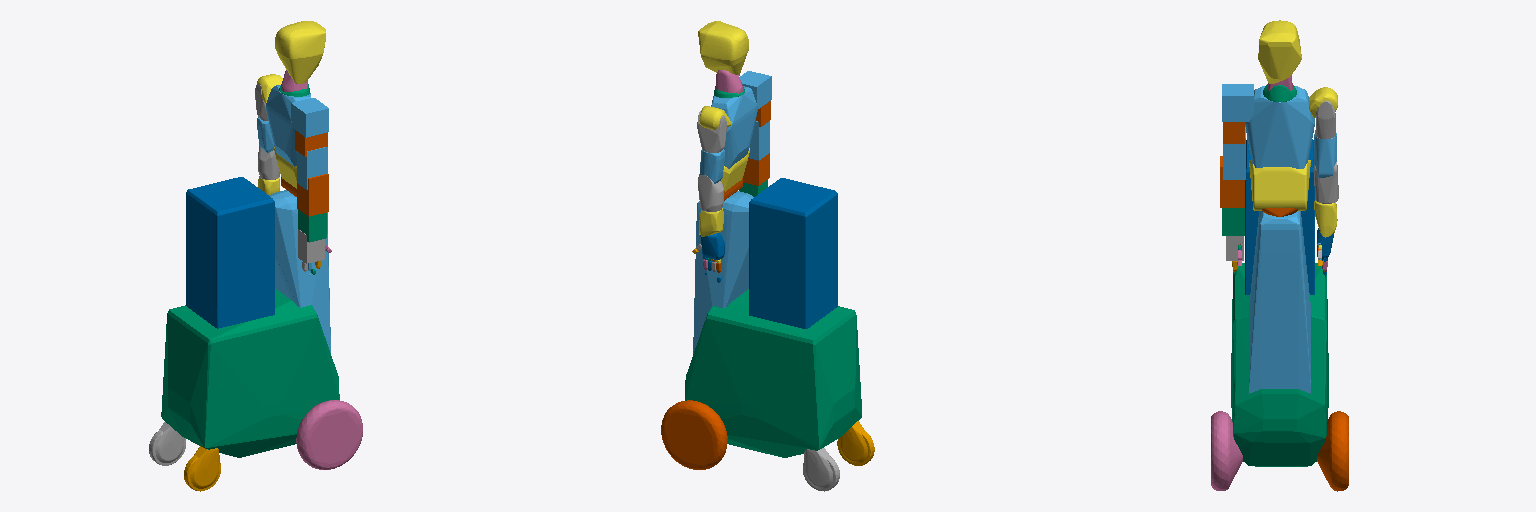
--- What the picture shows (computed from the rendered views, not written in the file) ---
The picture shows the robot from 3 angles, left to right: view 1: azimuth 30°, elevation 25°; view 2: azimuth 150°, elevation 25°; view 3: azimuth 270°, elevation 25°; orthographic projection.
Model LSA with 146 links and 145 joints (49 revolute, 45 continuous, 51 fixed), rooted at world, posed every joint at zero.
Links seen in each view (by area): view 1: column_link, hydraulic_container_link, root_link, right_wheel_link, neck_pitch_link, torso_pitch_upper_link, right_shoulder_fe_link, right_elbow_fe_link, right_caster_swivel_link, right_shoulder_ie_link, left_caster_swivel_link, right_wrist_rotation_link (+3 smaller); view 2: column_link, hydraulic_container_link, root_link, left_wheel_link, neck_pitch_link, torso_pitch_upper_link, left_caster_swivel_link, right_caster_swivel_link, left_elbow_fe_link, right_shoulder_fe_link, left_shoulder_aa_link, left_shoulder_ie_link (+4 smaller); view 3: column_link, root_link, torso_pitch_upper_link, torso_pitch_lower_link, hydraulic_container_link, neck_pitch_link, right_wheel_link, left_wheel_link, right_shoulder_fe_link, right_shoulder_ie_link, left_shoulder_ie_link, right_elbow_fe_link (+4 smaller).
Link boxes in pixels (x1,y1,x2,y2): column_link: (161,288,339,457); hydraulic_container_link: (186,177,274,328); root_link: (270,190,330,352); right_wheel_link: (296,400,362,469); neck_pitch_link: (275,21,325,83); torso_pitch_upper_link: (266,85,310,166); right_shoulder_fe_link: (291,98,328,137); right_elbow_fe_link: (297,174,328,216); right_caster_swivel_link: (190,446,219,488); right_shoulder_ie_link: (297,147,327,189); left_caster_swivel_link: (155,422,184,462); right_wrist_rotation_link: (298,209,326,242); column_link: (685,289,861,457); hydraulic_container_link: (749,178,837,328); root_link: (693,191,753,353); left_wheel_link: (661,400,727,469); neck_pitch_link: (698,21,748,75); torso_pitch_upper_link: (711,86,757,168); left_caster_swivel_link: (804,448,832,488); right_caster_swivel_link: (839,421,867,462); left_elbow_fe_link: (698,175,723,211); right_shoulder_fe_link: (740,71,771,108); left_shoulder_aa_link: (697,110,726,152); left_shoulder_ie_link: (699,149,724,183); column_link: (1231,263,1328,466); root_link: (1249,211,1310,393); torso_pitch_upper_link: (1245,86,1314,168); torso_pitch_lower_link: (1249,160,1310,210); hydraulic_container_link: (1245,139,1314,294); neck_pitch_link: (1258,20,1301,83); right_wheel_link: (1211,411,1242,490); left_wheel_link: (1317,411,1348,491); right_shoulder_fe_link: (1222,84,1253,121); right_shoulder_ie_link: (1223,127,1245,179); left_shoulder_ie_link: (1314,133,1336,177); right_elbow_fe_link: (1220,156,1244,207).
Size in the robot's own frame: 0.7304 by 0.4839 by 1.77 metres.
59 mesh visuals loaded from 97 distinct referenced files (59 OBJ); not drawn: 38 (reference not matched to a file when rendering).

robot.urdf — LSA:
<!--
	File autogenerated from OnShape exporter.
	Timestamp: 2022-06-20-14:55:21
	Exporter Git Commit Hash: a278511934049e6f8f56b7acad89d937a79011d1
	OnShape Microversion ID: 65d6e7af157a21df5c5a79c3
	robots/lsa_1.1_full/config.yml:
	{
		documentId: 0fd9bb9a29bd34da8f37550f
		workspaceId: 00709c39a3c048f1bddaec31
		assemblyName: LSA V1.1
		robotName: LSA
		jointLimits: joint_limits.yml
		massProps: mass_props.yml
		configuration: 		{
			Configuration: Neutral
			Passive Markers: False
			Apriltags: False
		}
		decimate: True
		generateCollisionHullURDF: True
	}
-->
<!--
	File updated by OnShape exporter script: scripts/process_joint_limits.py
	Timestamp: 2022-06-20-15:14:27
	Config File: robots/lsa_1.1_full/joint_limits.yml
	Script Commit Hash: a278511934049e6f8f56b7acad89d937a79011d1
-->
<!--
	File updated by OnShape exporter script: scripts/process_mass_properties.py
	Timestamp: 2022-06-20-15:14:27
	Config File: robots/lsa_1.1_full/mass_props.yml
	Script Commit Hash: a278511934049e6f8f56b7acad89d937a79011d1
-->
<!--
	File updated by OnShape exporter script: scripts/generate_hulls.py
	Timestamp: 2022-06-20-15:21:59
	Script Commit Hash: a278511934049e6f8f56b7acad89d937a79011d1
-->
<robot name="LSA">

<link name="world" />

<joint name="world_to_base" type="fixed">
<parent link="world" />
<child link="root_link" />
<origin rpy="0 0 0" xyz="0 0 0" />
</joint>

<link name="root_link">
<visual>
<origin xyz="9.47873756175138e-18 -2.856872724499304e-17 -0.024000000000000684" rpy="-2.7618585142051945e-16 -0.0 6.8534929388594916e-31" />
<geometry>
<mesh filename=".//meshes/urdf/obj_combined_hulls/root_link.obj" />
</geometry>
</visual>
<collision>
<origin xyz="9.47873756175138e-18 -2.856872724499304e-17 -0.024000000000000684" rpy="-2.7618585142051945e-16 -0.0 6.8534929388594916e-31" />
<geometry>
<mesh filename=".//meshes/urdf/obj_combined_hulls/root_link.obj" />
</geometry>
</collision>
<inertial>
<origin xyz="0.00679928302344931 6.653692674201541e-07 -0.27815003570157115" rpy="0 0 0" />
<mass value="7.183594348600132" />
<inertia ixx="0.31483080293207405" ixy="5.062017097616084e-07" ixz="0.021323894598139104" iyy="0.3143282448173946" iyz="-1.2779834144653864e-06" izz="0.032395636611825186" />
</inertial>
</link>

<link name="torso_waist_tracker_link" />

<joint name="torso_waist_tracker" type="fixed">
<origin xyz="-1.0600000000000405 -2.849952389034642e-16 1.0380000000000296" rpy="1.5707963267948966 -2.76185851420519e-16 -1.5707963267948983" />
<parent link="root_link" />
<child link="torso_waist_tracker_link" />
</joint>

<link name="wheel_base_link" />

<joint name="wheel_base" type="fixed">
<origin xyz="6.666762321308809e-11 -2.856872724268543e-17 -1.0627921111110301" rpy="-2.7618585142051945e-16 6.123233995736713e-17 6.853492938860852e-31" />
<parent link="root_link" />
<child link="wheel_base_link" />
</joint>

<link name="speaker_link" />

<joint name="speaker" type="fixed">
<origin xyz="0.06817500000000258 -2.0649219571397805e-15 -0.5667000000000009" rpy="1.5707963267948957 2.761858514205178e-16 1.5707963267948946" />
<parent link="root_link" />
<child link="speaker_link" />
</joint>

<link name="torso_yaw_link">
<visual>
<origin xyz="0.0 1.262177448353619e-29 4.3368086899380734e-19" rpy="-1.8325957145940461 1.5707963267948966 0.0" />
<geometry>
<mesh filename=".//meshes/urdf/obj_combined_hulls/torso_yaw_link.obj" />
</geometry>
</visual>
<collision>
<origin xyz="0.0 1.262177448353619e-29 4.3368086899380734e-19" rpy="-1.8325957145940461 1.5707963267948966 0.0" />
<geometry>
<mesh filename=".//meshes/urdf/obj_combined_hulls/torso_yaw_link.obj" />
</geometry>
</collision>
<inertial>
<origin xyz="-0.00166403 -0.0101463 0.0623078" rpy="0 0 0" />
<mass value="1.922" />
<inertia ixx="0.006378107099964676" ixy="6.59823948125347e-05" ixz="4.522349518090528e-05" iyy="0.00268619309683605" iyz="0.0003399816945047182" izz="0.005342834122218298" />
</inertial>
</link>

<joint name="torso_yaw" type="revolute">
<origin xyz="-3.1105803444498797e-15 -5.762979069651171e-14 3.187988067975982e-15" rpy="3.7495554139391605e-14 2.213579307108516e-14 -1.4624371897651312e-14" />
<parent link="root_link" />
<child link="torso_yaw_link" />
<axis xyz="2.2135793071084816e-14 -3.77717399908133e-14 1.0000000000000007" />
<limit effort="70.0" velocity="4.1" lower="-0.7853981633974483" upper="0.7853981633974483" />

</joint>

<link name="torso_pitch_lower_motor_link" />

<joint name="torso_pitch_lower_motor" type="fixed">
<origin xyz="-4.144403142988938e-16 0.015999999999999945 0.05599999999999992" rpy="-1.5707963267949012 1.7267553484046907e-16 -4.685887851807436e-14" />
<parent link="torso_yaw_link" />
<child link="torso_pitch_lower_motor_link" />
</joint>

<link name="torso_yaw_motor_link" />

<joint name="torso_yaw_motor" type="fixed">
<origin xyz="-4.027258048777949e-16 0.016249999999999945 0.05599999999999992" rpy="-1.5707963267949012 1.7267553484046907e-16 -4.685887851807436e-14" />
<parent link="torso_yaw_link" />
<child link="torso_yaw_motor_link" />
</joint>

<link name="torso_yaw_right_bearing_link" />

<joint name="torso_yaw_right_bearing" type="fixed">
<origin xyz="-3.832280011987365e-15 -0.08550037499999534 0.056000000000000494" rpy="-1.5707963267948972 3.9027887911559104e-16 1.456074087236189e-14" />
<parent link="torso_yaw_link" />
<child link="torso_yaw_right_bearing_link" />
</joint>

<link name="torso_yaw_left_bearing_link" />

<joint name="torso_yaw_left_bearing" type="fixed">
<origin xyz="2.9865244537367953e-15 0.08549999999999532 0.05599999999999969" rpy="-1.5707963267948972 3.9027887911559104e-16 1.456074087236189e-14" />
<parent link="torso_yaw_link" />
<child link="torso_yaw_left_bearing_link" />
</joint>

<link name="column_link">
<visual>
<origin xyz="-0.5360921073749237 0.05350000000033585 -0.11149999999987684" rpy="-3.141592653589793 -1.570796326794666 0.0" />
<geometry>
<mesh filename=".//meshes/urdf/obj_combined_hulls/column_link.obj" />
</geometry>
</visual>
<collision>
<origin xyz="-0.5360921073749237 0.05350000000033585 -0.11149999999987684" rpy="-3.141592653589793 -1.570796326794666 0.0" />
<geometry>
<mesh filename=".//meshes/urdf/obj_combined_hulls/column_link.obj" />
</geometry>
</collision>
<inertial>
<origin xyz="-0.2587693741131646 -0.17621985650592253 -0.11419698569756352" rpy="0 0 0" />
<mass value="48.304328694909294" />
<inertia ixx="1.9653289493747241" ixy="-0.001015432598232359" ixz="0.01099672538418078" iyy="1.1643347774970843" iyz="0.017423051358169128" izz="2.1992079257141928" />
</inertial>
</link>

<joint name="column" type="fixed">
<origin xyz="-0.047499999999995386 0.11149999999998736 -0.44170000000000265" rpy="-1.5707963267948974 -1.5707963267948728 0.0" />
<parent link="root_link" />
<child link="column_link" />
<axis xyz="3.1554436208840472e-30 8.332029653868598e-30 1.0" />
</joint>

<link name="torso_pitch_lower_link">
<visual>
<origin xyz="0.08 0.0 -0.08549999999999999" rpy="-1.5707963267948966 5.328688394996611e-30 1.5707963267948966" />
<geometry>
<mesh filename=".//meshes/urdf/obj_combined_hulls/torso_pitch_lower_link.obj" />
</geometry>
</visual>
<collision>
<origin xyz="0.08 0.0 -0.08549999999999999" rpy="-1.5707963267948966 5.328688394996611e-30 1.5707963267948966" />
<geometry>
<mesh filename=".//meshes/urdf/obj_combined_hulls/torso_pitch_lower_link.obj" />
</geometry>
</collision>
<inertial>
<origin xyz="-0.07573732954220565 -0.012714319395604561 -0.07998181952541111" rpy="0 0 0" />
<mass value="0.5423763129502652" />
<inertia ixx="0.0035963261683322626" ixy="-0.00025112304608164296" ixz="1.1650452549459382e-05" iyy="0.004013441490397242" iyz="5.2337508120182574e-06" izz="0.0017308649418825922" />
</inertial>
</link>

<joint name="torso_pitch_lower" type="revolute">
<origin xyz="-3.8322800119873655e-15 -0.08550037499999534 0.05599999999998974" rpy="1.5707963267948197 1.5707963267948657 0.0" />
<parent link="torso_yaw_link" />
<child link="torso_pitch_lower_link" />
<axis xyz="-3.059755751267585e-14 6.233280923648332e-14 1.0000000000000073" />
<limit effort="70.0" velocity="4.1" lower="-0.5235987755982988" upper="0.2617993877991494" />

</joint>

<link name="hydraulic_container_link">
<visual>
<origin xyz="1.3877787807814457e-17 0.0 -0.01905000000000001" rpy="1.5707963267948966 -0.0 -3.95206709005231e-32" />
<geometry>
<mesh filename=".//meshes/urdf/obj_combined_hulls/hydraulic_container_link.obj" />
</geometry>
</visual>
<collision>
<origin xyz="1.3877787807814457e-17 0.0 -0.01905000000000001" rpy="1.5707963267948966 -0.0 -3.95206709005231e-32" />
<geometry>
<mesh filename=".//meshes/urdf/obj_combined_hulls/hydraulic_container_link.obj" />
</geometry>
</collision>
<inertial>
<origin xyz="-0.08834957841548317 -0.10673214342752788 -0.3161666728897021" rpy="0 0 0" />
<mass value="10.705259239944729" />
<inertia ixx="0.36794648450690826" ixy="0.0001526706629178361" ixz="3.670399565378849e-05" iyy="0.3684954243891234" iyz="0.00943033596260982" izz="0.15560447886058354" />
</inertial>
</link>

<joint name="hydraulic_container" type="fixed">
<origin xyz="0.009699999999980224 -0.16850000000003526 -0.023131999999876862" rpy="-1.2082366638804501e-13 -1.5707963267948966 0.0" />
<parent link="column_link" />
<child link="hydraulic_container_link" />
<axis xyz="0.0 7.573064690121713e-29 1.0" />
</joint>

<link name="left_wheel_link">
<visual>
<origin xyz="1.3877787807814457e-15 0.13999999999999058 0.17820069103793562" rpy="1.5707963267948966 1.5707963267948966 0.0" />
<geometry>
<mesh filename=".//meshes/urdf/obj_combined_hulls/left_wheel_link.obj" />
</geometry>
</visual>
<collision>
<origin xyz="1.3877787807814457e-15 0.13999999999999058 0.17820069103793562" rpy="1.5707963267948966 1.5707963267948966 0.0" />
<geometry>
<mesh filename=".//meshes/urdf/obj_combined_hulls/left_wheel_link.obj" />
</geometry>
</collision>
<inertial>
<origin xyz="9.333270776421728e-06 1.283040296112814e-05 -0.027637123710610084" rpy="0 0 0" />
<mass value="1.049343517474219" />
<inertia ixx="0.007013006404082125" ixy="1.53464755472883e-07" ixz="1.3339394225848444e-08" iyy="0.007013229323611871" iyz="-4.168210127299714e-07" izz="0.012711747618871604" />
</inertial>
</link>

<joint name="left_wheel" type="continuous">
<origin xyz="-0.48119999999998797 0.048500000000026085 0.06670100000014316" rpy="-3.141592653589793 -3.4943327596080453e-17 -1.5707963267950282" />
<parent link="column_link" />
<child link="left_wheel_link" />
<axis xyz="3.4943327596057416e-17 -1.868022623563356e-27 1.0" />
<limit effort="30" velocity="7.14" />

</joint>

<link name="right_wheel_link">
<visual>
<origin xyz="-6.659169743405968e-16 -0.13999999999999047 0.17820069103793554" rpy="-1.5707963267948966 -1.5707963267948966 0.0" />
<geometry>
<mesh filename=".//meshes/urdf/obj_combined_hulls/right_wheel_link.obj" />
</geometry>
</visual>
<collision>
<origin xyz="-6.659169743405968e-16 -0.13999999999999047 0.17820069103793554" rpy="-1.5707963267948966 -1.5707963267948966 0.0" />
<geometry>
<mesh filename=".//meshes/urdf/obj_combined_hulls/right_wheel_link.obj" />
</geometry>
</collision>
<inertial>
<origin xyz="-9.333277032410194e-06 -1.2830387295881263e-05 -0.02763712371060159" rpy="0 0 0" />
<mass value="1.049343517474864" />
<inertia ixx="0.00701300640407758" ixy="1.5346481107314241e-07" ixz="-1.3339239467798026e-08" iyy="0.007013229323633407" iyz="4.168206251659545e-07" izz="0.012711747618888656" />
</inertial>
</link>

<joint name="right_wheel" type="continuous">
<origin xyz="-0.4811999999999881 0.048500000000026085 -0.2897009999998568" rpy="1.9216651651183848e-27 -3.4943327596080453e-17 -1.5707963267950282" />
<parent link="column_link" />
<child link="right_wheel_link" />
<axis xyz="-3.4943327596057416e-17 -1.868022623563356e-27 1.0" />
<limit effort="30" velocity="7.14" />

</joint>

<link name="left_caster_swivel_link">
<visual>
<origin xyz="-0.13224999876448648 -0.4734999999999997 -0.18342210737489983" rpy="0.0 -5.543281940506e-09 3.1309853526513357e-32" />
<geometry>
<mesh filename=".//meshes/urdf/obj_combined_hulls/left_caster_swivel_link.obj" />
</geometry>
</visual>
<collision>
<origin xyz="-0.13224999876448648 -0.4734999999999997 -0.18342210737489983" rpy="0.0 -5.543281940506e-09 3.1309853526513357e-32" />
<geometry>
<mesh filename=".//meshes/urdf/obj_combined_hulls/left_caster_swivel_link.obj" />
</geometry>
</collision>
<inertial>
<origin xyz="-1.5553471270473349e-06 0.03560815387965185 -0.09170981512775853" rpy="0 0 0" />
<mass value="0.5011401476986359" />
<inertia ixx="0.0016012393673076105" ixy="1.5757387114749748e-08" ixz="-1.5056085251611842e-08" iyy="0.0010928191052211292" iyz="0.0001539468728223525" izz="0.0006866383213370814" />
</inertial>
</link>

<joint name="left_caster_swivel" type="continuous">
<origin xyz="-0.4376700007331501 -0.42599999999997934 0.020749999781370113" rpy="3.1415926535896617 -1.5707963212516147 0.0" />
<parent link="column_link" />
<child link="left_caster_swivel_link" />
<axis xyz="0.0 -1.9573847869067922e-25 1.0" />
<limit effort="0" velocity="0" />

</joint>

<link name="right_caster_swivel_link">
<visual>
<origin xyz="0.13225000123551348 -0.4734999999999997 -0.18342210737489995" rpy="0.0 -5.543281940506e-09 3.1309853526513357e-32" />
<geometry>
<mesh filename=".//meshes/urdf/obj_combined_hulls/right_caster_swivel_link.obj" />
</geometry>
</visual>
<collision>
<origin xyz="0.13225000123551348 -0.4734999999999997 -0.18342210737489995" rpy="0.0 -5.543281940506e-09 3.1309853526513357e-32" />
<geometry>
<mesh filename=".//meshes/urdf/obj_combined_hulls/right_caster_swivel_link.obj" />
</geometry>
</collision>
<inertial>
<origin xyz="-1.5553483571841523e-06 0.03560815387962095 -0.09170981512118676" rpy="0 0 0" />
<mass value="0.501140147758996" />
<inertia ixx="0.0016012393675204936" ixy="1.5757386469422163e-08" ixz="-1.505603476014013e-08" iyy="0.0010928191054480783" iyz="0.00015394687282121674" izz="0.0006866383213519762" />
</inertial>
</link>

<joint name="right_caster_swivel" type="continuous">
<origin xyz="-0.4376699992669518 -0.42599999999997934 -0.24375000021862986" rpy="3.1415926535896617 -1.5707963212516147 0.0" />
<parent link="column_link" />
<child link="right_caster_swivel_link" />
<axis xyz="0.0 -1.9573847869067922e-25 1.0" />
<limit effort="0" velocity="0" />

</joint>

<link name="torso_pitch_upper_link">
<visual>
<origin xyz="0.0 2.7755575615628914e-17 0.003500000000000003" rpy="-1.5519979019635813e-30 1.5707963267948966 0.0" />
<geometry>
<mesh filename=".//meshes/urdf/obj_combined_hulls/torso_pitch_upper_link.obj" />
</geometry>
</visual>
<collision>
<origin xyz="0.0 2.7755575615628914e-17 0.003500000000000003" rpy="-1.5519979019635813e-30 1.5707963267948966 0.0" />
<geometry>
<mesh filename=".//meshes/urdf/obj_combined_hulls/torso_pitch_upper_link.obj" />
</geometry>
</collision>
<inertial>
<origin xyz="-0.015243445582268634 -0.14733934317604153 0.07604282037510816" rpy="0 0 0" />
<mass value="5.391439784540943" />
<inertia ixx="0.08453956115277658" ixy="-0.004628728157891779" ixz="0.0007906091526285789" iyy="0.028338851252210997" iyz="0.006181040264228648" izz="0.06417020298910171" />
</inertial>
</link>

<joint name="torso_pitch_upper" type="continuous">
<origin xyz="-0.09272887864750137 -0.02484663665963369 9.575673587391975e-16" rpy="-3.141592653589763 2.1637508065301426e-17 1.5707963267948966" />
<parent link="torso_pitch_lower_link" />
<child link="torso_pitch_upper_link" />
<axis xyz="-1.8748044307837196e-17 -3.013566795201047e-14 0.9999999999999998" />
<mimic joint="torso_pitch_lower" multiplier="-1.0" offset="0" />
<limit effort="70.0" velocity="4.1" />

</joint>

<link name="torso_pitch_right_bearing_link" />

<joint name="torso_pitch_right_bearing" type="fixed">
<origin xyz="1.742176880649995e-32 2.7755575615628907e-17 3.469446951953614e-18" rpy="-1.896441462393579e-30 -1.776556724364418e-30 1.5519979019635813e-30" />
<parent link="torso_pitch_upper_link" />
<child link="torso_pitch_right_bearing_link" />
</joint>

<link name="left_chest_motor_link" />

<joint name="left_chest_motor" type="fixed">
<origin xyz="-0.025653371670167333 -0.19995862067625816 0.15835619374420207" rpy="2.6179938779915037 -5.329070518200505e-15 3.1415926535897563" />
<parent link="torso_pitch_upper_link" />
<child link="left_chest_motor_link" />
</joint>

<link name="torso_pitch_upper_motor_link" />

<joint name="torso_pitch_upper_motor" type="fixed">
<origin xyz="-8.329845799237567e-09 6.762583826258606e-10 0.10175000000000357" rpy="-1.7569404246260578e-14 3.581844210917116e-14 -3.578656032529209e-14" />
<parent link="torso_pitch_upper_link" />
<child link="torso_pitch_upper_motor_link" />
</joint>

<link name="torso_pitch_left_bearing_link" />

<joint name="torso_pitch_left_bearing" type="fixed">
<origin xyz="-1.5161483180037296e-15 2.239652907576328e-15 0.17100000000000687" rpy="-2.4424906541753527e-15 2.6378890550100975e-30 -2.220446049250297e-16" />
<parent link="torso_pitch_upper_link" />
<child link="torso_pitch_left_bearing_link" />
</joint>

<link name="torso_chest_tracker_link" />

<joint name="torso_chest_tracker" type="fixed">
<origin xyz="0.028346619999989633 -0.16819490725265443 0.0855000000000055" rpy="-3.141592653589757 1.5707963267948568 0.0" />
<parent link="torso_pitch_upper_link" />
<child link="torso_chest_tracker_link" />
</joint>

<link name="left_caster_link">
<visual>
<origin xyz="-0.07630210737489995 -0.5134999999999996 0.13224999876448534" rpy="-0.0 1.5707963212516147 0.0" />
<geometry>
<mesh filename=".//meshes/urdf/obj_combined_hulls/left_caster_link.obj" />
</geometry>
</visual>
<collision>
<origin xyz="-0.07630210737489995 -0.5134999999999996 0.13224999876448534" rpy="-0.0 1.5707963212516147 0.0" />
<geometry>
<mesh filename=".//meshes/urdf/obj_combined_hulls/left_caster_link.obj" />
</geometry>
</collision>
<inertial>
<origin xyz="-1.2572706368507713e-06 4.0777852664541925e-06 8.99217845462541e-08" rpy="0 0 0" />
<mass value="0.5220211600449411" />
<inertia ixx="0.0008313444910895271" ixy="-2.0089968601291447e-08" ixz="-4.445201906547108e-08" iyy="0.0008313967711645181" iyz="-3.672457956702592e-08" izz="0.0016077080244882112" />
</inertial>
</link>

<joint name="left_caster" type="continuous">
<origin xyz="-1.1102230246251565e-15 0.03999999999999987 -0.10711999999999988" rpy="2.1811774521457205e-32 -1.5707963267948966 0.0" />
<parent link="left_caster_swivel_link" />
<child link="left_caster_link" />
<axis xyz="0.0 -2.1811774521457205e-32 1.0" />
<limit effort="0" velocity="0" />

</joint>

<link name="right_caster_link">
<visual>
<origin xyz="-0.07630210737489995 0.5134999999999996 0.13225000123551353" rpy="-3.141592653589793 -1.5707963212516147 0.0" />
<geometry>
<mesh filename=".//meshes/urdf/obj_combined_hulls/right_caster_link.obj" />
</geometry>
</visual>
<collision>
<origin xyz="-0.07630210737489995 0.5134999999999996 0.13225000123551353" rpy="-3.141592653589793 -1.5707963212516147 0.0" />
<geometry>
<mesh filename=".//meshes/urdf/obj_combined_hulls/right_caster_link.obj" />
</geometry>
</collision>
<inertial>
<origin xyz="4.07778526634317e-06 1.2572706368230158e-06 8.992178457400968e-08" rpy="0 0 0" />
<mass value="0.5220211600449416" />
<inertia ixx="0.0008313967711645197" ixy="2.0089968601375638e-08" ixz="-3.672457956699712e-08" iyy="0.0008313444910895283" iyz="4.4452019065448346e-08" izz="0.0016077080244882112" />
</inertial>
</link>

<joint name="right_caster" type="continuous">
<origin xyz="-5.551115123125783e-17 0.03999999999999987 -0.10711999999999999" rpy="-3.141592653589793 -1.5707963267948966 0.0" />
<parent link="right_caster_swivel_link" />
<child link="right_caster_link" />
<axis xyz="0.0 -2.1811774521457205e-32 1.0" />
<limit effort="0" velocity="0" />

</joint>

<link name="right_shoulder_fe_link">
<visual>
<origin xyz="-6.938893903907228e-18 0.0 0.06937500000000008" rpy="-5.586166405652295e-31 1.0471975511965979 1.5707963267948966" />
<geometry>
<mesh filename=".//meshes/urdf/obj_combined_hulls/right_shoulder_fe_link.obj" />
</geometry>
</visual>
<collision>
<origin xyz="-6.938893903907228e-18 0.0 0.06937500000000008" rpy="-5.586166405652295e-31 1.0471975511965979 1.5707963267948966" />
<geometry>
<mesh filename=".//meshes/urdf/obj_combined_hulls/right_shoulder_fe_link.obj" />
</geometry>
</collision>
<inertial>
<origin xyz="0.01804580832985173 0.02121518988650123 0.07186595457686923" rpy="0 0 0" />
<mass value="0.96" />
<inertia ixx="0.0011118011274775616" ixy="1.3330532192125175e-05" ixz="-0.00015374811936521172" iyy="0.0015260836322637708" iyz="-3.75399226410233e-06" izz="0.0012180806877555345" />
</inertial>
</link>

<joint name="right_shoulder_fe" type="revolute">
<origin xyz="-0.025653371670199543 -0.21558362067625494 -0.014419487612456233" rpy="2.6179938779914598 5.94530700557959e-14 -2.825363035797169e-14" />
<parent link="torso_pitch_upper_link" />
<child link="right_shoulder_fe_link" />
<axis xyz="1.8306063673256304e-15 5.398712404411842e-15 0.9999999999999682" />
<limit effort="36" velocity="8.9" lower="-0.7853981633974483" upper="3.141592653589793" />

</joint>

<link name="neck_yaw_link">
<visual>
<origin xyz="6.1235188130565575e-19 0.0 0.0" rpy="-1.964072326306217e-30 -1.0275302189876902e-17 1.5707963267948966" />
<geometry>
<mesh filename=".//meshes/urdf/obj_combined_hulls/neck_yaw_link.obj" />
</geometry>
</visual>
<collision>
<origin xyz="6.1235188130565575e-19 0.0 0.0" rpy="-1.964072326306217e-30 -1.0275302189876902e-17 1.5707963267948966" />
<geometry>
<mesh filename=".//meshes/urdf/obj_combined_hulls/neck_yaw_link.obj" />
</geometry>
</collision>
<inertial>
<origin xyz="-4.899550065642449e-06 -0.011644661517631646 0.04616318477068648" rpy="0 0 0" />
<mass value="0.122" />
<inertia ixx="0.000102013271703066" ixy="-1.4630705843483473e-07" ixz="-6.556765654852104e-09" iyy="0.00011048127954380077" iyz="2.5412351849033873e-05" izz="0.00015080123327545795" />
</inertial>
</link>

<joint name="neck_yaw" type="revolute">
<origin xyz="-0.011122904334320713 -0.272519257214183 0.08550000000007436" rpy="1.692969374434425 -1.5707963267948821 0.0" />
<parent link="torso_pitch_upper_link" />
<child link="neck_yaw_link" />
<axis xyz="-2.2848118499191356e-18 3.450421829567995e-14 0.9999999999999939" />
<limit effort="19" velocity="8.9" lower="-1.5707963267948966" upper="1.5707963267948966" />

</joint>

<link name="left_shoulder_fe_link">
<visual>
<origin xyz="0.0 0.0 0.06937500000000008" rpy="6.740497088515665e-31 -1.0471975511965979 -1.5707963267948966" />
<geometry>
<mesh filename=".//meshes/urdf/obj_combined_hulls/left_shoulder_fe_link.obj" />
</geometry>
</visual>
<collision>
<origin xyz="0.0 0.0 0.06937500000000008" rpy="6.740497088515665e-31 -1.0471975511965979 -1.5707963267948966" />
<geometry>
<mesh filename=".//meshes/urdf/obj_combined_hulls/left_shoulder_fe_link.obj" />
</geometry>
</collision>
<inertial>
<origin xyz="-0.018064408329857326 0.021796483466066274 0.07186366456295995" rpy="0 0 0" />
<mass value="0.96" />
<inertia ixx="0.0010839502548898594" ixy="-1.584846344054008e-05" ixz="0.0001626821061471474" iyy="0.001547522617364326" iyz="3.200915124770338e-05" izz="0.0012215774892882657" />
</inertial>
</link>

<joint name="left_shoulder_fe" type="revolute">
<origin xyz="-0.025653371670187414 -0.21558362067624212 0.185419487612475" rpy="-0.5235987755982912 -6.102550324745999e-14 3.1415926535897643" />
<parent link="torso_pitch_upper_link" />
<child link="left_shoulder_fe_link" />
<axis xyz="-5.2164298088153715e-14 1.1728718322156383e-14 0.9999999999999746" />
<limit effort="36" velocity="8.9" lower="-3.141592653589793" upper="0.7853981633974483" />

</joint>

<link name="left_shoulder_motor_link" />

<joint name="left_shoulder_motor" type="fixed">
<origin xyz="-0.00037499999999850153 6.403039926496061e-16 0.06937500000000027" rpy="3.1415926535897922 -1.5707963267948888 0.0" />
<parent link="left_shoulder_fe_link" />
<child link="left_shoulder_motor_link" />
</joint>

<link name="right_shoulder_aa_link">
<visual>
<origin xyz="0.0 2.7755575615628914e-17 -0.031625" rpy="-1.5707963267948966 -6.828148307168349e-30 1.5707963267948966" />
<geometry>
<mesh filename=".//meshes/urdf/obj_combined_hulls/right_shoulder_aa_link.obj" />
</geometry>
</visual>
<collision>
<origin xyz="0.0 2.7755575615628914e-17 -0.031625" rpy="-1.5707963267948966 -6.828148307168349e-30 1.5707963267948966" />
<geometry>
<mesh filename=".//meshes/urdf/obj_combined_hulls/right_shoulder_aa_link.obj" />
</geometry>
</collision>
<inertial>
<origin xyz="0.07196719932374168 -0.0007098319999853386 -0.031643070370183324" rpy="0 0 0" />
<mass value="0.778" />
<inertia ixx="0.000682161494531174" ixy="-2.2625796921700523e-05" ixz="2.1873666341189004e-06" iyy="0.001996192657199828" iyz="3.7615263729463516e-06" izz="0.0017492429411239572" />
</inertial>
</link>

<joint name="right_shoulder_aa" type="revolute">
<origin xyz="0.031625000000032516 -6.161737786669619e-15 0.06937500000000402" rpy="-1.5707963267951546 0.5235987755984383 -1.5707963267949658" />
<parent link="right_shoulder_fe_link" />
<child link="right_shoulder_aa_link" />
<axis xyz="1.300559538498458e-29 4.614183210861973e-13 0.9999999999999964" />
<limit effort="36" velocity="8.9" lower="-2.0943951023931953" upper="0" />

</joint>

<link name="neck_roll_link">
<visual>
<origin xyz="-1.7618285302889447e-19 -5.551115123125783e-17 6.938893903907228e-18" rpy="-3.1415926535897927 7.050168423664557e-16 -4.295123560541974e-31" />
<geometry>
<mesh filename=".//meshes/urdf/obj_combined_hulls/neck_roll_link.obj" />
</geometry>
</visual>
<collision>
<origin xyz="-1.7618285302889447e-19 -5.551115123125783e-17 6.938893903907228e-18" rpy="-3.1415926535897927 7.050168423664557e-16 -4.295123560541974e-31" />
<geometry>
<mesh filename=".//meshes/urdf/obj_combined_hulls/neck_roll_link.obj" />
</geometry>
</collision>
<inertial>
<origin xyz="0.010889225000063094 0.05531102518258163 0.020455094945758305" rpy="0 0 0" />
<mass value="0.792" />
<inertia ixx="0.0011107579375322877" ixy="-0.0002158076272142311" ixz="-8.160199392174452e-05" iyy="0.0007183762468522624" iyz="-0.00024884904613905806" izz="0.001156611943648491" />
</inertial>
</link>

<joint name="neck_roll" type="revolute">
<origin xyz="-1.1316241590704837e-15 -0.026999999999999996 0.034499999999999975" rpy="1.5707963267949112 1.2816282966740496e-16 -3.141592653589793" />
<parent link="neck_yaw_link" />
<child link="neck_roll_link" />
<axis xyz="5.638064726918832e-17 -1.5210293746821542e-14 1.0000000000000144" />
<limit effort="19" velocity="8.9" lower="-0.5235987755982988" upper="0.5235987755982988" />

</joint>

<link name="left_shoulder_aa_link">
<visual>
<origin xyz="0.0 0.0 -0.031625" rpy="-1.5707963267948966 -1.2425662754484402e-30 -1.5707963267948966" />
<geometry>
<mesh filename=".//meshes/urdf/obj_combined_hulls/left_shoulder_aa_link.obj" />
</geometry>
</visual>
<collision>
<origin xyz="0.0 0.0 -0.031625" rpy="-1.5707963267948966 -1.2425662754484402e-30 -1.5707963267948966" />
<geometry>
<mesh filename=".//meshes/urdf/obj_combined_hulls/left_shoulder_aa_link.obj" />
</geometry>
</collision>
<inertial>
<origin xyz="-0.07195179932373885 -0.0006863949999875996 -0.031246740670147308" rpy="0 0 0" />
<mass value="0.7859999999999999" />
<inertia ixx="0.0006892067952639909" ixy="2.3170794598337893e-05" ixz="-9.390221254757445e-06" iyy="0.002020057529194171" iyz="-3.124557984482127e-06" izz="0.0017699018945938512" />
</inertial>
</link>

<joint name="left_shoulder_aa" type="revolute">
<origin xyz="-0.031624999999998515 6.661338147750939e-16 0.06937500000000019" rpy="-1.5707963267948815 -0.5235987755983059 1.570796326794897" />
<parent link="left_shoulder_fe_link" />
<child link="left_shoulder_aa_link" />
<axis xyz="7.631589218041125e-29 -1.8799640275188508e-14 1.0000000000000129" />
<limit effort="36" velocity="8.9" lower="0" upper="2.111848394913139" />

</joint>

<link name="left_bicep_motor_link" />

<joint name="left_bicep_motor" type="fixed">
<origin xyz="-0.09999999999998871 1.9364259755254426e-15 -0.03162499999999994" rpy="1.5707963267948806 -1.1780972450961558 1.570796326794929" />
<parent link="left_shoulder_aa_link" />
<child link="left_bicep_motor_link" />
</joint>

<link name="right_shoulder_ie_link">
<visual>
<origin xyz="0.0 2.7755575615628914e-17 0.12912499999999996" rpy="-3.141592653589793 1.836970198721011e-16 4.5533793101955184e-29" />
<geometry>
<mesh filename=".//meshes/urdf/obj_combined_hulls/right_shoulder_ie_link.obj" />
</geometry>
</visual>
<collision>
<origin xyz="0.0 2.7755575615628914e-17 0.12912499999999996" rpy="-3.141592653589793 1.836970198721011e-16 4.5533793101955184e-29" />
<geometry>
<mesh filename=".//meshes/urdf/obj_combined_hulls/right_shoulder_ie_link.obj" />
</geometry>
</collision>
<inertial>
<origin xyz="0.0030550354452504387 -0.012093359926407128 0.07601648308677228" rpy="0 0 0" />
<mass value="0.8072296878184448" />
<inertia ixx="0.0019797222594324544" ixy="7.673159251833094e-05" ixz="-0.00018880428345477952" iyy="0.001851577667838464" iyz="0.0002895955851886462" izz="0.0007859102022404687" />
</inertial>
</link>

<joint name="right_shoulder_ie" type="revolute">
<origin xyz="0.12612595250008124 6.439293542825908e-15 -0.031624999999994935" rpy="-3.1415926535897474 -1.5707963267944338 0.0" />
<parent link="right_shoulder_aa_link" />
<child link="right_shoulder_ie_link" />
<axis xyz="-5.20639139448055e-16 3.085185518815391e-16 1.0000000000000189" />
<limit effort="19" velocity="8.9" lower="-1.5707963267948966" upper="1.5707963267948966" />

</joint>

<link name="right_shoulder_tracker_link" />

<joint name="right_shoulder_tracker" type="fixed">
<origin xyz="-0.005040000000000204 0.050999999999999865 0.07152500000000002" rpy="-1.5707963267948966 -1.836970198721011e-16 -3.141592653589793" />
<parent link="right_shoulder_ie_link" />
<child link="right_shoulder_tracker_link" />
</joint>

<link name="neck_pitch_link">
<visual>
<origin xyz="0.0 0.09449999999999997 -0.029" rpy="1.5707963267948966 5.735462992065669e-17 -6.25055564815869e-18" />
<geometry>
<mesh filename=".//meshes/urdf/obj_combined_hulls/neck_pitch_link.obj" />
</geometry>
</visual>
<collision>
<origin xyz="0.0 0.09449999999999997 -0.029" rpy="1.5707963267948966 5.735462992065669e-17 -6.25055564815869e-18" />
<geometry>
<mesh filename=".//meshes/urdf/obj_combined_hulls/neck_pitch_link.obj" />
</geometry>
</collision>
<inertial>
<origin xyz="-0.0057379563214478195 -0.12818696217586892 -0.02844836731733345" rpy="0 0 0" />
<mass value="2.9268816502772252" />
<inertia ixx="0.005213691615681359" ixy="-0.0006448045184076851" ixz="-2.4805467387907816e-06" iyy="0.00701902338519465" iyz="-0.00014760789631563728" izz="0.006787360121816714" />
</inertial>
</link>

<joint name="neck_pitch" type="revolute">
<origin xyz="0.028999999999999082 0.06000000000000333 0.02699999999999953" rpy="-3.141592653589782 -1.5707963267948735 0.0" />
<parent link="neck_roll_link" />
<child link="neck_pitch_link" />
<axis xyz="-1.874525620950114e-15 1.0147666855111307e-16 0.9999999999999681" />
<limit effort="19" velocity="8.9" lower="-1.2217304763960306" upper="0.7853981633974483" />

</joint>

<link name="zed_mini_right_link" />

<joint name="zed_mini_right" type="fixed">
<origin xyz="-0.08384718756353018 -0.1759398305115566 0.0025000004694319573" rpy="0.1221730476395908 -1.5707963267947564 0.0" />
<parent link="neck_pitch_link" />
<child link="zed_mini_right_link" />
</joint>

<link name="zed_mini_left_link" />

<joint name="zed_mini_left" type="fixed">
<origin xyz="-0.08384718756353515 -0.1759398305115639 -0.060500000469339135" rpy="0.1221730476395908 -1.5707963267947564 0.0" />
<parent link="neck_pitch_link" />
<child link="zed_mini_left_link" />
</joint>

<link name="microphone_link" />

<joint name="microphone" type="fixed">
<origin xyz="-0.06816680778853529 -0.17399923256096408 -0.018042540940563442" rpy="3.0194196059502025 1.5707963267947564 0.0" />
<parent link="neck_pitch_link" />
<child link="microphone_link" />
</joint>

<link name="azure_kinect_center_link" />

<joint name="azure_kinect_center" type="fixed">
<origin xyz="-0.06772835945139169 -0.13843669217856797 -0.02915525987973195" rpy="0.12217304764369845 -1.5707963267941665 0.0" />
<parent link="neck_pitch_link" />
<child link="azure_kinect_center_link" />
</joint>

<link name="azure_kinect_link" />

<joint name="azure_kinect" type="fixed">
<origin xyz="-0.06838343991149627 -0.13851712594522067 0.0007447401202666168" rpy="0.12217304764369845 -1.5707963267941665 0.0" />
<parent link="neck_pitch_link" />
<child link="azure_kinect_link" />
</joint>

<link name="left_shoulder_ie_link">
<visual>
<origin xyz="0.0 0.0 0.129125" rpy="3.141592653589793 1.8369701987210275e-16 -5.29732798467742e-32" />
<geometry>
<mesh filename=".//meshes/urdf/obj_combined_hulls/left_shoulder_ie_link.obj" />
</geometry>
</visual>
<collision>
<origin xyz="0.0 0.0 0.129125" rpy="3.141592653589793 1.8369701987210275e-16 -5.29732798467742e-32" />
<geometry>
<mesh filename=".//meshes/urdf/obj_combined_hulls/left_shoulder_ie_link.obj" />
</geometry>
</collision>
<inertial>
<origin xyz="0.0030500458368819205 0.01195959700662757 0.07614171634020178" rpy="0 0 0" />
<mass value="0.807229687818445" />
<inertia ixx="0.0019833102584433833" ixy="-7.862108879315832e-05" ixz="-0.00018806247578235987" iyy="0.0018349725973879094" iyz="-0.000293240600144721" izz="0.0007896710920482218" />
</inertial>
</link>

<joint name="left_shoulder_ie" type="revolute">
<origin xyz="-0.1261259524999888 8.881784197001252e-16 -0.031624999999999855" rpy="1.8085242191189497e-14 -1.5707963267948784 0.0" />
<parent link="left_shoulder_aa_link" />
<child link="left_shoulder_ie_link" />
<axis xyz="-6.712245515371906e-16 3.3598018719857576e-16 1.0000000000000238" />
<limit effort="19" velocity="8.9" lower="-1.5707963267948966" upper="1.5707963267948966" />

</joint>

<link name="left_shoulder_tracker_link" />

<joint name="left_shoulder_tracker" type="fixed">
<origin xyz="-0.00504000000000001 -0.051000000000000004 0.07152499999999999" rpy="-1.5707963267948966 1.8369701987210275e-16 -5.29732798467742e-32" />
<parent link="left_shoulder_ie_link" />
<child link="left_shoulder_tracker_link" />
</joint>

<link name="left_elbow_bearing_link" />

<joint name="left_elbow_bearing" type="fixed">
<origin xyz="0.009999999999999655 -0.033500000000002694 0.12912500000000043" rpy="1.5707963267949758 5.0428227778066117e-14 1.0848960618755943e-14" />
<parent link="left_shoulder_ie_link" />
<child link="left_elbow_bearing_link" />
</joint>

<link name="left_elbow_motor_link" />

<joint name="left_elbow_motor" type="fixed">
<origin xyz="0.00999999999999993 -0.00012499999999766517 0.12912499999999774" rpy="1.5707963267950151 0.837764194475241 8.757646092288882e-14" />
<parent link="left_shoulder_ie_link" />
<child link="left_elbow_motor_link" />
</joint>

<link name="right_elbow_fe_link">
<visual>
<origin xyz="-2.7755575615628914e-17 0.010000000000000002 -0.026249999999999996" rpy="1.5707963267948966 3.390113629309306e-30 -1.5707963267948966" />
<geometry>
<mesh filename=".//meshes/urdf/obj_combined_hulls/right_elbow_fe_link.obj" />
</geometry>
</visual>
<collision>
<origin xyz="-2.7755575615628914e-17 0.010000000000000002 -0.026249999999999996" rpy="1.5707963267948966 3.390113629309306e-30 -1.5707963267948966" />
<geometry>
<mesh filename=".//meshes/urdf/obj_combined_hulls/right_elbow_fe_link.obj" />
</geometry>
</collision>
<inertial>
<origin xyz="0.06479056646004125 0.01118032668962237 -0.027502317500050166" rpy="0 0 0" />
<mass value="0.672" />
<inertia ixx="0.0004416806496044859" ixy="4.612887669291204e-05" ixz="-4.640819082345558e-05" iyy="0.0011042143804110072" iyz="-4.709754667063635e-06" izz="0.0010572810341188256" />
</inertial>
</link>

<joint name="right_elbow_fe" type="revolute">
<origin xyz="0.009999835019501649 -0.02600095250001952 0.1291249803636178" rpy="1.5707963267945642 -1.5707963267947342 0.0" />
<parent link="right_shoulder_ie_link" />
<child link="right_elbow_fe_link" />
<axis xyz="2.1619553916403353e-29 3.4295401762622856e-17 1.0000000000000022" />
<limit effort="19" velocity="8.9" lower="-2.6179938779914944" upper="0.17453292519943295" />

</joint>

<link name="right_forearm_tracker_link" />

<joint name="right_forearm_tracker" type="fixed">
<origin xyz="0.07549999999999997 0.015549460985616001 -0.07774999999999999" rpy="-1.852937997734199e-19 -3.390147667228127e-30 1.5707963267948966" />
<parent link="right_elbow_fe_link" />
<child link="right_forearm_tracker_link" />
</joint>

<link name="left_elbow_fe_link">
<visual>
<origin xyz="-0.009999999999999995 0.0 -0.026249999999999996" rpy="-1.5707963267948966 3.4658797310181623e-31 0.0" />
<geometry>
<mesh filename=".//meshes/urdf/obj_combined_hulls/left_elbow_fe_link.obj" />
</geometry>
</visual>
<collision>
<origin xyz="-0.009999999999999995 0.0 -0.026249999999999996" rpy="-1.5707963267948966 3.4658797310181623e-31 0.0" />
<geometry>
<mesh filename=".//meshes/urdf/obj_combined_hulls/left_elbow_fe_link.obj" />
</geometry>
</collision>
<inertial>
<origin xyz="-0.01118808547904041 -0.06443605627779016 -0.026319916135813252" rpy="0 0 0" />
<mass value="0.6840401167420422" />
<inertia ixx="0.0011341436749277153" ixy="4.607894457486835e-05" ixz="2.240967970923843e-06" iyy="0.0004551294238640585" iyz="1.5807375057063412e-05" izz="0.0010784451301199087" />
</inertial>
</link>

<joint name="left_elbow_fe" type="revolute">
<origin xyz="0.009999999999999488 0.0260009525000017 0.1291250000000003" rpy="-1.5707963267948144 -7.494295571202647e-09 2.3217948891511006e-15" />
<parent link="left_shoulder_ie_link" />
<child link="left_elbow_fe_link" />
<axis xyz="-1.9732850551217684e-15 4.223533854071992e-16 1.0000000000000315" />
<limit effort="19" velocity="8.9" lower="-0.17453292519943295" upper="2.6179938779914944" />

</joint>

<link name="left_forearm_tracker_link" />

<joint name="left_forearm_tracker" type="fixed">
<origin xyz="-0.007549460985615994 -0.0755 -0.07774999999999999" rpy="-1.8529379978508901e-19 3.466220110206375e-31 -6.307015315174871e-54" />
<parent link="left_elbow_fe_link" />
<child link="left_forearm_tracker_link" />
</joint>

<link name="left_forearm_motor_link" />

<joint name="left_forearm_motor" type="fixed">
<origin xyz="-0.009999950835108738 -0.08262500000001435 -0.026250158704031454" rpy="-1.5707963267948908 -0.4188790204786378 -1.1505670175351315e-14" />
<parent link="left_elbow_fe_link" />
<child link="left_forearm_motor_link" />
</joint>

<link name="right_wrist_rotation_link">
<visual>
<origin xyz="0.0 0.0 6.938893903907228e-18" rpy="-3.141592653589793 2.5421260299864258e-30 1.2862303347851033e-30" />
<geometry>
<mesh filename=".//meshes/urdf/obj_combined_hulls/right_wrist_rotation_link.obj" />
</geometry>
</visual>
<collision>
<origin xyz="0.0 0.0 6.938893903907228e-18" rpy="-3.141592653589793 2.5421260299864258e-30 1.2862303347851033e-30" />
<geometry>
<mesh filename=".//meshes/urdf/obj_combined_hulls/right_wrist_rotation_link.obj" />
</geometry>
</collision>
<inertial>
<origin xyz="0.013932888268054104 -0.0002769051302899672 0.03586731395994533" rpy="0 0 0" />
<mass value="0.746" />
<inertia ixx="0.0009304154282668103" ixy="-1.4187291183130974e-05" ixz="-4.719506172503191e-05" iyy="0.0010219861460921522" iyz="-8.560399287826932e-07" izz="0.0004909679289931075" />
</inertial>
</link>

<joint name="right_wrist_rotation" type="revolute">
<origin xyz="0.10875095250009138 0.009999914957652428 -0.026250142730359804" rpy="-1.5707963267949576 1.0843404446966898e-13 -1.570796326794919" />
<parent link="right_elbow_fe_link" />
<child link="right_wrist_rotation_link" />
<axis xyz="7.977414277479792e-16 -4.1361313892512067e-16 0.9999999999999591" />
<limit effort="19" velocity="8.9" lower="-1.5707963267948966" upper="1.5707963267948966" />

</joint>

<link name="left_wrist_rotation_link">
<visual>
<origin xyz="6.938893903907228e-18 2.7755575615628914e-17 0.0" rpy="3.141592653589793 4.506315468407392e-25 3.141592653589793" />
<geometry>
<mesh filename=".//meshes/urdf/obj_combined_hulls/left_wrist_rotation_link.obj" />
</geometry>
</visual>
<collision>
<origin xyz="6.938893903907228e-18 2.7755575615628914e-17 0.0" rpy="3.141592653589793 4.506315468407392e-25 3.141592653589793" />
<geometry>
<mesh filename=".//meshes/urdf/obj_combined_hulls/left_wrist_rotation_link.obj" />
</geometry>
</collision>
<inertial>
<origin xyz="0.014712460248640626 0.0002709453040638521 0.03585329428842248" rpy="0 0 0" />
<mass value="0.736" />
<inertia ixx="0.0009144720128498236" ixy="1.7238115557206555e-05" ixz="-6.752004945833398e-05" iyy="0.0009868872822093174" iyz="6.108396179557146e-08" izz="0.00046042942469568036" />
</inertial>
</link>

<joint name="left_wrist_rotation" type="revolute">
<origin xyz="-0.009999950835108719 -0.10875095250001376 -0.026250158704030385" rpy="1.5707963267949039 1.5690334341245393e-15 -6.970966133129732e-15" />
<parent link="left_elbow_fe_link" />
<child link="left_wrist_rotation_link" />
<axis xyz="4.506315468484828e-25 1.3740748865679865e-16 0.999999999999973" />
<limit effort="19" velocity="8.9" lower="-1.5707963267948966" upper="1.5707963267948966" />

</joint>

<link name="left_wrist_motor_link" />

<joint name="left_wrist_motor" type="fixed">
<origin xyz="-0.007884049999995167 -8.458586118971487e-16 0.04950000000001319" rpy="1.5707963267947815 0.6544984694978567 -1.570796326794965" />
<parent link="left_wrist_rotation_link" />
<child link="left_wrist_motor_link" />
</joint>

<link name="left_lower_wrist_bearing_link" />

<joint name="left_lower_wrist_bearing" type="fixed">
<origin xyz="0.02907500000000891 -2.6118225204124716e-15 0.12250000000002623" rpy="1.5707963267948881 7.216449665367594e-15 -1.570796326794896" />
<parent link="left_wrist_rotation_link" />
<child link="left_lower_wrist_bearing_link" />
</joint>

<link name="left_upper_wrist_bearing_link" />

<joint name="left_upper_wrist_bearing" type="fixed">
<origin xyz="0.026541902500004214 -0.024000000000001354 0.04950000000001035" rpy="1.5707963267948022 0.29670597283904204 -1.5707963267949256" />
<parent link="left_wrist_rotation_link" />
<child link="left_upper_wrist_bearing_link" />
</joint>

<link name="right_wrist_flexion_link">
<visual>
<origin xyz="0.0 -0.1225 0.016990950000000005" rpy="1.5707963267948966 1.5707963267948966 0.0" />
<geometry>
<mesh filename=".//meshes/urdf/obj_combined_hulls/right_wrist_flexion_link.obj" />
</geometry>
</visual>
<collision>
<origin xyz="0.0 -0.1225 0.016990950000000005" rpy="1.5707963267948966 1.5707963267948966 0.0" />
<geometry>
<mesh filename=".//meshes/urdf/obj_combined_hulls/right_wrist_flexion_link.obj" />
</geometry>
</collision>
<inertial>
<origin xyz="0.005295774683642261 0.04774105497029693 0.01659051997466799" rpy="0 0 0" />
<mass value="0.45249242436677656" />
<inertia ixx="0.0007976521578044414" ixy="-5.4027437508803006e-05" ixz="-1.703772251806697e-05" iyy="0.0002536937960376567" iyz="-2.982870641285682e-05" izz="0.0006965251193833308" />
</inertial>
</link>

<joint name="right_wrist_flexion" type="revolute">
<origin xyz="0.017000000000030484 1.0352829704629585e-14 0.1225000000001022" rpy="1.5707963267948966 -9.220294051054228e-29 -1.5707963267948954" />
<parent link="right_wrist_rotation_link" />
<child link="right_wrist_flexion_link" />
<axis xyz="1.1906708258248518e-15 1.1102230243724724e-16 1.0000000000000002" />
<limit effort="19" velocity="8.9" lower="-1.0471975511965976" upper="0.7853981633974483" />

</joint>

<link name="right_haptx_dorsal_tracker_link" />

<joint name="right_haptx_dorsal_tracker" type="fixed">
<origin xyz="-0.039000000000000465 -0.04000000000001519 -0.033965997709253265" rpy="1.4449940227302047e-29 -0.5235987755982986 3.1415926535897882" />
<parent link="right_wrist_flexion_link" />
<child link="right_haptx_dorsal_tracker_link" />
</joint>

<link name="right_haptx_origin_tracker_link" />

<joint name="right_haptx_origin_tracker" type="fixed">
<origin xyz="-0.0022999999999957204 0.10050178325275509 0.0075000000000092935" rpy="-1.5707963267948482 -1.3819474587923648e-13 1.570796326794817" />
<parent link="right_wrist_flexion_link" />
<child link="right_haptx_origin_tracker_link" />
</joint>

<link name="right_dorsal_tracker_link" />

<joint name="right_dorsal_tracker" type="fixed">
<origin xyz="-0.04584865121309785 0.05406848916449099 0.0202093090093367" rpy="3.141592653589708 -1.5707963267947525 0.0" />
<parent link="right_wrist_flexion_link" />
<child link="right_dorsal_tracker_link" />
</joint>

<link name="right_grip_point_link" />

<joint name="right_grip_point" type="fixed">
<origin xyz="0.04715134878690774 0.1540684891644804 0.020209309009345675" rpy="3.141592653589708 -1.5707963267947525 0.0" />
<parent link="right_wrist_flexion_link" />
<child link="right_grip_point_link" />
</joint>

<link name="left_wrist_flexion_link">
<visual>
<origin xyz="2.7755575615628914e-17 -0.12250000000000003 0.016990950000000005" rpy="1.5707963267948966 -1.5707963267948966 0.0" />
<geometry>
<mesh filename=".//meshes/urdf/obj_combined_hulls/left_wrist_flexion_link.obj" />
</geometry>
</visual>
<collision>
<origin xyz="2.7755575615628914e-17 -0.12250000000000003 0.016990950000000005" rpy="1.5707963267948966 -1.5707963267948966 0.0" />
<geometry>
<mesh filename=".//meshes/urdf/obj_combined_hulls/left_wrist_flexion_link.obj" />
</geometry>
</collision>
<inertial>
<origin xyz="-0.007214093813734281 0.047477478114136336 0.01659403350791623" rpy="0 0 0" />
<mass value="0.4524910213104889" />
<inertia ixx="0.0008149412381862845" ixy="-7.607233905240332e-06" ixz="2.6993710660141486e-06" iyy="0.0002432454250374737" iyz="-2.9408951481029545e-05" izz="0.0007034047478510397" />
</inertial>
</link>

<joint name="left_wrist_flexion" type="revolute">
<origin xyz="0.01700000000000891 -2.6367796834847468e-15 0.1225000000000264" rpy="1.5707963267948881 7.216449665704985e-15 -1.570796326794896" />
<parent link="left_wrist_rotation_link" />
<child link="left_wrist_flexion_link" />
<axis xyz="-3.8180743855988356e-17 -4.163340929466663e-17 1.0000000000000007" />
<limit effort="19" velocity="8.9" lower="-0.7853981633974483" upper="1.0471975511965976" />

</joint>

<link name="left_haptx_dorsal_tracker_link" />

<joint name="left_haptx_dorsal_tracker" type="fixed">
<origin xyz="0.03899999999999795 -0.040000000000010305 -0.03397504770924921" rpy="-4.0279062320866104e-14 0.5235987755982986 3.141592653589769" />
<parent link="left_wrist_flexion_link" />
<child link="left_haptx_dorsal_tracker_link" />
</joint>

<link name="left_haptx_origin_tracker_link" />

<joint name="left_haptx_origin_tracker" type="fixed">
<origin xyz="0.0022999999999973875 0.10050178325275903 0.007490950000005371" rpy="1.570796326794964 -2.7680688860990577e-14 1.5707963267949303" />
<parent link="left_wrist_flexion_link" />
<child link="left_haptx_origin_tracker_link" />
</joint>

<link name="left_dorsal_tracker_link" />

<joint name="left_dorsal_tracker" type="fixed">
<origin xyz="0.04584865121309827 0.05406848916449568 0.014620259009333053" rpy="3.141592653589762 1.5707963267948226 0.0" />
<parent link="left_wrist_flexion_link" />
<child link="left_dorsal_tracker_link" />
</joint>

<link name="left_grip_point_link" />

<joint name="left_grip_point" type="fixed">
<origin xyz="-0.04715134878690145 0.1540684891644907 0.014620259009341921" rpy="3.141592653589762 1.5707963267948226 0.0" />
<parent link="left_wrist_flexion_link" />
<child link="left_grip_point_link" />
</joint>

<link name="left_palm_link" />

<joint name="left_palm" type="fixed">
<origin xyz="-0.0233000000000026 0.09800178325275868 0.016990950000006583" rpy="3.0832052996876315e-14 -1.5707963267948244 0.0" />
<parent link="left_wrist_flexion_link" />
<child link="left_palm_link" />
</joint>

<link name="right_middle_finger_mcp_abduction_link">
<visual>
<origin xyz="0.0 -0.0050000000000000044 2.7755575615628914e-17" rpy="-4.776889756388367e-30 7.108538126311427e-30 9.146243139419362e-33" />
<geometry>
<mesh filename=".//meshes/urdf/obj_combined_hulls/right_middle_finger_mcp_abduction_link.obj" />
</geometry>
</visual>
<collision>
<origin xyz="0.0 -0.0050000000000000044 2.7755575615628914e-17" rpy="-4.776889756388367e-30 7.108538126311427e-30 9.146243139419362e-33" />
<geometry>
<mesh filename=".//meshes/urdf/obj_combined_hulls/right_middle_finger_mcp_abduction_link.obj" />
</geometry>
</collision>
<inertial>
<origin xyz="2.2167138630326815e-05 0.00278362281118332 -0.0026015173229284676" rpy="0 0 0" />
<mass value="0.008033364303465346" />
<inertia ixx="2.5922752158806076e-07" ixy="-5.71079300583445e-10" ixz="3.8593237498142035e-10" iyy="2.398548619041403e-07" iyz="5.473634720550702e-09" izz="1.6158238417482518e-07" />
</inertial>
</link>

<joint name="right_middle_finger_mcp_abduction" type="revolute">
<origin xyz="0.003000000000004055 0.10050178325275405 0.007500000000136363" rpy="3.1415926535897873 1.5707963267947316 0.0" />
<parent link="right_wrist_flexion_link" />
<child link="right_middle_finger_mcp_abduction_link" />
<axis xyz="-3.235208709338925e-29 9.668008308765116e-14 1.000000000000009" />
<limit effort="30" velocity="30" lower="-0.3490658503988659" upper="0.3490658503988659" />

</joint>

<link name="right_pinkie_finger_mcp_abduction_link">
<visual>
<origin xyz="0.0 -0.004999999999999977 -2.7755575615628914e-17" rpy="-1.0438478552240215e-29 2.7588300477159354e-30 -9.103224237861447e-31" />
<geometry>
<mesh filename=".//meshes/urdf/obj_combined_hulls/right_pinkie_finger_mcp_abduction_link.obj" />
</geometry>
</visual>
<collision>
<origin xyz="0.0 -0.004999999999999977 -2.7755575615628914e-17" rpy="-1.0438478552240215e-29 2.7588300477159354e-30 -9.103224237861447e-31" />
<geometry>
<mesh filename=".//meshes/urdf/obj_combined_hulls/right_pinkie_finger_mcp_abduction_link.obj" />
</geometry>
</collision>
<inertial>
<origin xyz="2.2167138630327083e-05 0.002783622811183347 -0.002601517322928524" rpy="0 0 0" />
<mass value="0.008033364303465346" />
<inertia ixx="2.5922752158806076e-07" ixy="-5.710793005834631e-10" ixz="3.8593237498143136e-10" iyy="2.3985486190414046e-07" iyz="5.473634720550702e-09" izz="1.6158238417482502e-07" />
</inertial>
</link>

<joint name="right_pinkie_finger_mcp_abduction" type="revolute">
<origin xyz="0.003000000000005998 0.09850178325274836 0.045500000000133496" rpy="3.141592653589792 1.5707963267947505 0.0" />
<parent link="right_wrist_flexion_link" />
<child link="right_pinkie_finger_mcp_abduction_link" />
<axis xyz="-2.7588300477159354e-30 9.163658144173458e-14 1.0" />
<limit effort="30" velocity="30" lower="-0.3490658503988659" upper="0.3490658503988659" />

</joint>

<link name="right_index_finger_mcp_abduction_link">
<visual>
<origin xyz="0.0 -0.0050000000000000044 -2.7755575615628914e-17" rpy="-5.493420561510654e-29 1.78548043511012e-32 -9.103224237861223e-31" />
<geometry>
<mesh filename=".//meshes/urdf/obj_combined_hulls/right_index_finger_mcp_abduction_link.obj" />
</geometry>
</visual>
<collision>
<origin xyz="0.0 -0.0050000000000000044 -2.7755575615628914e-17" rpy="-5.493420561510654e-29 1.78548043511012e-32 -9.103224237861223e-31" />
<geometry>
<mesh filename=".//meshes/urdf/obj_combined_hulls/right_index_finger_mcp_abduction_link.obj" />
</geometry>
</collision>
<inertial>
<origin xyz="2.2167138630289807e-05 0.0027836228111833205 -0.0026015173229285036" rpy="0 0 0" />
<mass value="0.008033364303465346" />
<inertia ixx="2.5922752158806076e-07" ixy="-5.710793005837549e-10" ixz="3.859323749808923e-10" iyy="2.398548619041384e-07" iyz="5.4736347205508524e-09" izz="1.6158238417482296e-07" />
</inertial>
</link>

<joint name="right_index_finger_mcp_abduction" type="revolute">
<origin xyz="0.0030000000000031113 0.09950178325275438 -0.011499999999989956" rpy="-3.141592653589708 1.5707963267947505 0.0" />
<parent link="right_wrist_flexion_link" />
<child link="right_index_finger_mcp_abduction_link" />
<axis xyz="-1.7854804344855905e-32 -2.661114771897525e-26 1.0" />
<limit effort="30" velocity="30" lower="-0.3490658503988659" upper="0.3490658503988659" />

</joint>

<link name="right_ring_finger_mcp_abduction_link">
<visual>
<origin xyz="0.0 -0.005000000000000032 -2.7755575615628914e-17" rpy="-3.79475265360824e-29 3.5550463092882275e-30 -1.0535087677337404e-30" />
<geometry>
<mesh filename=".//meshes/urdf/obj_combined_hulls/right_ring_finger_mcp_abduction_link.obj" />
</geometry>
</visual>
<collision>
<origin xyz="0.0 -0.005000000000000032 -2.7755575615628914e-17" rpy="-3.79475265360824e-29 3.5550463092882275e-30 -1.0535087677337404e-30" />
<geometry>
<mesh filename=".//meshes/urdf/obj_combined_hulls/right_ring_finger_mcp_abduction_link.obj" />
</geometry>
</collision>
<inertial>
<origin xyz="2.2167138630337085e-05 0.0027836228111832867 -0.002601517322928524" rpy="0 0 0" />
<mass value="0.008033364303465346" />
<inertia ixx="2.592275215880608e-07" ixy="-5.710793005833666e-10" ixz="3.8593237498141295e-10" iyy="2.398548619041409e-07" iyz="5.473634720550722e-09" izz="1.615823841748258e-07" />
</inertial>
</link>

<joint name="right_ring_finger_mcp_abduction" type="revolute">
<origin xyz="0.0030000000000050264 0.09950178325274919 0.02650000000000762" rpy="-3.141592653589703 1.5707963267947505 0.0" />
<parent link="right_wrist_flexion_link" />
<child link="right_ring_finger_mcp_abduction_link" />
<axis xyz="-1.1715101666110718e-28 4.821457041045029e-15 1.0000000000000093" />
<limit effort="30" velocity="30" lower="-0.3490658503988659" upper="0.3490658503988659" />

</joint>

<link name="right_thumb_opposition_link">
<visual>
<origin xyz="0.0 0.019999999999999976 -0.0025000000000000577" rpy="-1.5707963267948966 2.345472529656524e-29 6.472872104732229e-30" />
<geometry>
<mesh filename=".//meshes/urdf/obj_combined_hulls/right_thumb_opposition_link.obj" />
</geometry>
</visual>
<collision>
<origin xyz="0.0 0.019999999999999976 -0.0025000000000000577" rpy="-1.5707963267948966 2.345472529656524e-29 6.472872104732229e-30" />
<geometry>
<mesh filename=".//meshes/urdf/obj_combined_hulls/right_thumb_opposition_link.obj" />
</geometry>
</collision>
<inertial>
<origin xyz="-0.0007825484852760822 0.00439699544823534 -0.004804276744802365" rpy="0 0 0" />
<mass value="0.009841931053884784" />
<inertia ixx="1.0545152324306868e-06" ixy="-3.15436564779023e-08" ixz="6.725772016358923e-08" iyy="8.965614463882282e-07" iyz="4.946301974292744e-08" izz="3.65721515188733e-07" />
</inertial>
</link>

<joint name="right_thumb_opposition" type="revolute">
<origin xyz="0.020000000000000073 0.0519999999999913 -0.004193480880562029" rpy="-1.5707963267947609 5.028202236315286e-14 -9.034530555669631e-14" />
<parent link="right_wrist_flexion_link" />
<child link="right_thumb_opposition_link" />
<axis xyz="5.1545239483897906e-15 -1.617755209205452e-14 0.9999999999999505" />
<limit effort="30" velocity="30" lower="-0.7853981633974483" upper="0" />

</joint>

<link name="left_thumb_opposition_link">
<visual>
<origin xyz="2.7755575615628914e-17 0.019999999999999983 -0.00250000000000003" rpy="-1.5707963267948966 -2.8822464224142208e-30 -1.3953077324044914e-29" />
<geometry>
<mesh filename=".//meshes/urdf/obj_combined_hulls/left_thumb_opposition_link.obj" />
</geometry>
</visual>
<collision>
<origin xyz="2.7755575615628914e-17 0.019999999999999983 -0.00250000000000003" rpy="-1.5707963267948966 -2.8822464224142208e-30 -1.3953077324044914e-29" />
<geometry>
<mesh filename=".//meshes/urdf/obj_combined_hulls/left_thumb_opposition_link.obj" />
</geometry>
</collision>
<inertial>
<origin xyz="0.0007825484852761146 0.004396995448235397 -0.004804276744802321" rpy="0 0 0" />
<mass value="0.009841931053884784" />
<inertia ixx="1.0545152324306756e-06" ixy="3.154365647790262e-08" ixz="-6.725772016358849e-08" iyy="8.965614463882236e-07" iyz="4.946301974293154e-08" izz="3.657215151887293e-07" />
</inertial>
</link>

<joint name="left_thumb_opposition" type="revolute">
<origin xyz="-0.02000000000000232 0.05199999999999652 -0.004202530880559004" rpy="-1.570796326794871 6.678756810608639e-14 2.93289619548154e-14" />
<parent link="left_wrist_flexion_link" />
<child link="left_thumb_opposition_link" />
<axis xyz="2.0313863903961682e-15 8.309248633081657e-16 0.999999999999989" />
<limit effort="30" velocity="30" lower="0" upper="0.7853981633974483" />

</joint>

<link name="left_middle_finger_mcp_abduction_link">
<visual>
<origin xyz="-6.938893903907228e-18 -0.0050000000000000044 0.0" rpy="1.046059678011391e-29 4.0621201810957394e-30 -9.71153743924765e-27" />
<geometry>
<mesh filename=".//meshes/urdf/obj_combined_hulls/left_middle_finger_mcp_abduction_link.obj" />
</geometry>
</visual>
<collision>
<origin xyz="-6.938893903907228e-18 -0.0050000000000000044 0.0" rpy="1.046059678011391e-29 4.0621201810957394e-30 -9.71153743924765e-27" />
<geometry>
<mesh filename=".//meshes/urdf/obj_combined_hulls/left_middle_finger_mcp_abduction_link.obj" />
</geometry>
</collision>
<inertial>
<origin xyz="2.216713863032078e-05 0.0027836228111833192 -0.002601517322928495" rpy="0 0 0" />
<mass value="0.008033364303465346" />
<inertia ixx="2.592275215880608e-07" ixy="-5.710793005834737e-10" ixz="3.8593237498142443e-10" iyy="2.3985486190414046e-07" iyz="5.473634720550708e-09" izz="1.6158238417482505e-07" />
</inertial>
</link>

<joint name="left_middle_finger_mcp_abduction" type="revolute">
<origin xyz="-0.0030000000000024174 0.10050178325275891 0.007490950000005728" rpy="-3.1415926535897607 -1.5707963267948222 0.0" />
<parent link="left_wrist_flexion_link" />
<child link="left_middle_finger_mcp_abduction_link" />
<axis xyz="2.4426627101297826e-24 3.330669185530842e-16 0.9999999999999998" />
<limit effort="30" velocity="30" lower="-0.3490658503988659" upper="0.3490658503988659" />

</joint>

<link name="left_pinkie_finger_mcp_abduction_link">
<visual>
<origin xyz="0.0 -0.0050000000000000044 0.0" rpy="-2.6864630320400566e-30 9.796798552187728e-31 -4.952941554636777e-25" />
<geometry>
<mesh filename=".//meshes/urdf/obj_combined_hulls/left_pinkie_finger_mcp_abduction_link.obj" />
</geometry>
</visual>
<collision>
<origin xyz="0.0 -0.0050000000000000044 0.0" rpy="-2.6864630320400566e-30 9.796798552187728e-31 -4.952941554636777e-25" />
<geometry>
<mesh filename=".//meshes/urdf/obj_combined_hulls/left_pinkie_finger_mcp_abduction_link.obj" />
</geometry>
</collision>
<inertial>
<origin xyz="2.2167138630361215e-05 0.0027836228111833197 -0.002601517322928495" rpy="0 0 0" />
<mass value="0.008033364303465346" />
<inertia ixx="2.592275215880608e-07" ixy="-5.710793005831871e-10" ixz="3.859323749814364e-10" iyy="2.398548619041424e-07" iyz="5.473634720550701e-09" izz="1.6158238417482695e-07" />
</inertial>
</link>

<joint name="left_pinkie_finger_mcp_abduction" type="revolute">
<origin xyz="-0.0029999999999995586 0.09850178325275749 0.04549095000000401" rpy="-3.141592653589762 -1.5707963267948208 0.0" />
<parent link="left_wrist_flexion_link" />
<child link="left_pinkie_finger_mcp_abduction_link" />
<axis xyz="1.0160338004455636e-16 -1.8093414911904835e-15 0.9999999999999691" />
<limit effort="30" velocity="30" lower="-0.3490658503988659" upper="0.3490658503988659" />

</joint>

<link name="left_index_finger_mcp_abduction_link">
<visual>
<origin xyz="-6.938893903907228e-18 -0.0050000000000000044 2.7755575615628914e-17" rpy="1.4500067676698927e-29 -1.9713423396215304e-30 9.711650107098243e-27" />
<geometry>
<mesh filename=".//meshes/urdf/obj_combined_hulls/left_index_finger_mcp_abduction_link.obj" />
</geometry>
</visual>
<collision>
<origin xyz="-6.938893903907228e-18 -0.0050000000000000044 2.7755575615628914e-17" rpy="1.4500067676698927e-29 -1.9713423396215304e-30 9.711650107098243e-27" />
<geometry>
<mesh filename=".//meshes/urdf/obj_combined_hulls/left_index_finger_mcp_abduction_link.obj" />
</geometry>
</collision>
<inertial>
<origin xyz="2.2167138630320188e-05 0.0027836228111833223 -0.0026015173229284472" rpy="0 0 0" />
<mass value="0.008033364303465346" />
<inertia ixx="2.592275215880606e-07" ixy="-5.710793005835508e-10" ixz="3.85932374980869e-10" iyy="2.3985486190414046e-07" iyz="5.4736347205508524e-09" izz="1.61582384174825e-07" />
</inertial>
</link>

<joint name="left_index_finger_mcp_abduction" type="revolute">
<origin xyz="-0.0030000000000034166 0.09950178325275838 -0.011509049999993175" rpy="-3.1415926535897625 -1.5707963267948208 0.0" />
<parent link="left_wrist_flexion_link" />
<child link="left_index_finger_mcp_abduction_link" />
<axis xyz="-5.78074549856792e-24 -3.3306689014377964e-16 1.0000000000000002" />
<limit effort="30" velocity="30" lower="-0.3490658503988659" upper="0.3490658503988659" />

</joint>

<link name="left_ring_finger_mcp_abduction_link">
<visual>
<origin xyz="0.0 -0.0050000000000000044 0.0" rpy="4.0212954893214336e-30 7.560781039057134e-30 -7.477970582502699e-25" />
<geometry>
<mesh filename=".//meshes/urdf/obj_combined_hulls/left_ring_finger_mcp_abduction_link.obj" />
</geometry>
</visual>
<collision>
<origin xyz="0.0 -0.0050000000000000044 0.0" rpy="4.0212954893214336e-30 7.560781039057134e-30 -7.477970582502699e-25" />
<geometry>
<mesh filename=".//meshes/urdf/obj_combined_hulls/left_ring_finger_mcp_abduction_link.obj" />
</geometry>
</collision>
<inertial>
<origin xyz="2.2167138630335472e-05 0.002783622811183314 -0.0026015173229284945" rpy="0 0 0" />
<mass value="0.008033364303465346" />
<inertia ixx="2.5922752158806086e-07" ixy="-5.710793005833477e-10" ixz="3.85932374981458e-10" iyy="2.39854861904141e-07" iyz="5.473634720550727e-09" izz="1.615823841748256e-07" />
</inertial>
</link>

<joint name="left_ring_finger_mcp_abduction" type="revolute">
<origin xyz="-0.0030000000000007243 0.09950178325275846 0.026490950000004593" rpy="-3.141592653589762 -1.5707963267948213 0.0" />
<parent link="left_wrist_flexion_link" />
<child link="left_ring_finger_mcp_abduction_link" />
<axis xyz="4.901817541872241e-16 -1.474532162487971e-15 0.9999999999999838" />
<limit effort="30" velocity="30" lower="-0.3490658503988659" upper="0.3490658503988659" />

</joint>

<link name="right_middle_finger_mcp_flexion_link">
<visual>
<origin xyz="-0.0050000000000000044 0.0 -6.938893903907228e-18" rpy="-1.5707963267948966 -1.5707963267948966 0.0" />
<geometry>
<mesh filename=".//meshes/urdf/obj_combined_hulls/right_middle_finger_mcp_flexion_link.obj" />
</geometry>
</visual>
<collision>
<origin xyz="-0.0050000000000000044 0.0 -6.938893903907228e-18" rpy="-1.5707963267948966 -1.5707963267948966 0.0" />
<geometry>
<mesh filename=".//meshes/urdf/obj_combined_hulls/right_middle_finger_mcp_flexion_link.obj" />
</geometry>
</collision>
<inertial>
<origin xyz="-0.004711241977214683 0.002632433941056846 -0.00010618381221108387" rpy="0 0 0" />
<mass value="0.008551500024267173" />
<inertia ixx="4.4703652121635063e-07" ixy="-7.399789963729793e-10" ixz="-2.6222867037387065e-10" iyy="4.899247390003302e-07" iyz="-2.389071697354312e-09" izz="2.833370437831566e-07" />
</inertial>
</link>

<joint name="right_middle_finger_mcp_flexion" type="revolute">
<origin xyz="0.0 0.0 2.7755575615628914e-17" rpy="1.5707963267948966 -1.0162164695463902e-13 1.5707963267948801" />
<parent link="right_middle_finger_mcp_abduction_link" />
<child link="right_middle_finger_mcp_flexion_link" />
<axis xyz="-1.6510618999422594e-14 9.547918011766381e-15 1.0000000000000089" />
<limit effort="30" velocity="30" lower="-0.2617993877991494" upper="0.7853981633974483" />

</joint>

<link name="right_pinkie_finger_mcp_flexion_link">
<visual>
<origin xyz="-0.004999999999999977 -2.7755575615628914e-17 1.3877787807814457e-17" rpy="-1.5707963267948966 -1.5707963267948966 0.0" />
<geometry>
<mesh filename=".//meshes/urdf/obj_combined_hulls/right_pinkie_finger_mcp_flexion_link.obj" />
</geometry>
</visual>
<collision>
<origin xyz="-0.004999999999999977 -2.7755575615628914e-17 1.3877787807814457e-17" rpy="-1.5707963267948966 -1.5707963267948966 0.0" />
<geometry>
<mesh filename=".//meshes/urdf/obj_combined_hulls/right_pinkie_finger_mcp_flexion_link.obj" />
</geometry>
</collision>
<inertial>
<origin xyz="-0.004711241977214655 0.0026324339410568067 -0.00010618381221106775" rpy="0 0 0" />
<mass value="0.008551500024267173" />
<inertia ixx="4.470365212163509e-07" ixy="-7.399789963728778e-10" ixz="-2.6222867037372894e-10" iyy="4.899247390003302e-07" iyz="-2.3890716973543828e-09" izz="2.833370437831569e-07" />
</inertial>
</link>

<joint name="right_pinkie_finger_mcp_flexion" type="revolute">
<origin xyz="0.0 2.7755575615628914e-17 -2.7755575615628914e-17" rpy="1.5707963267948966 -9.173851922105761e-14 1.5707963267948966" />
<parent link="right_pinkie_finger_mcp_abduction_link" />
<child link="right_pinkie_finger_mcp_flexion_link" />
<axis xyz="2.849002483033517e-28 2.5941490464384724e-25 1.0" />
<limit effort="30" velocity="30" lower="-0.2617993877991494" upper="0.7853981633974483" />

</joint>

<link name="right_index_finger_mcp_flexion_link">
<visual>
<origin xyz="-0.004999999999999977 2.7755575615628914e-17 0.0" rpy="-1.5707963267948966 -1.5707963267948966 0.0" />
<geometry>
<mesh filename=".//meshes/urdf/obj_combined_hulls/right_index_finger_mcp_flexion_link.obj" />
</geometry>
</visual>
<collision>
<origin xyz="-0.004999999999999977 2.7755575615628914e-17 0.0" rpy="-1.5707963267948966 -1.5707963267948966 0.0" />
<geometry>
<mesh filename=".//meshes/urdf/obj_combined_hulls/right_index_finger_mcp_flexion_link.obj" />
</geometry>
</collision>
<inertial>
<origin xyz="-0.004711241977214653 0.0026324339410568626 -0.00010618381221107509" rpy="0 0 0" />
<mass value="0.008551500024267173" />
<inertia ixx="4.4703652121635253e-07" ixy="-7.39978996372676e-10" ixz="-2.622286703741456e-10" iyy="4.899247390003298e-07" iyz="-2.389071697354032e-09" izz="2.833370437831568e-07" />
</inertial>
</link>

<joint name="right_index_finger_mcp_flexion" type="revolute">
<origin xyz="-1.2690196116160735e-13 -2.7755575615628914e-17 0.0" rpy="1.5707963267948966 9.163658144169577e-14 1.5707963267948966" />
<parent link="right_index_finger_mcp_abduction_link" />
<child link="right_index_finger_mcp_flexion_link" />
<axis xyz="2.060141577812505e-28 -8.841321559819873e-26 1.0" />
<limit effort="30" velocity="30" lower="-0.2617993877991494" upper="0.7853981633974483" />

</joint>

<link name="right_ring_finger_mcp_flexion_link">
<visual>
<origin xyz="-0.0050000000000000044 0.0 6.938893903907228e-18" rpy="-1.5707963267948966 -1.5707963267948966 0.0" />
<geometry>
<mesh filename=".//meshes/urdf/obj_combined_hulls/right_ring_finger_mcp_flexion_link.obj" />
</geometry>
</visual>
<collision>
<origin xyz="-0.0050000000000000044 0.0 6.938893903907228e-18" rpy="-1.5707963267948966 -1.5707963267948966 0.0" />
<geometry>
<mesh filename=".//meshes/urdf/obj_combined_hulls/right_ring_finger_mcp_flexion_link.obj" />
</geometry>
</collision>
<inertial>
<origin xyz="-0.004711241977214687 0.002632433941056843 -0.00010618381221108167" rpy="0 0 0" />
<mass value="0.008551500024267173" />
<inertia ixx="4.4703652121634756e-07" ixy="-7.399789963726768e-10" ixz="-2.62228670372992e-10" iyy="4.899247390003302e-07" iyz="-2.3890716973551144e-09" izz="2.833370437831566e-07" />
</inertial>
</link>

<joint name="right_ring_finger_mcp_flexion" type="revolute">
<origin xyz="-1.269123695024632e-13 -5.551115123125783e-17 0.0" rpy="1.5707963267948966 9.163658144170457e-14 1.5707963267948966" />
<parent link="right_ring_finger_mcp_abduction_link" />
<child link="right_ring_finger_mcp_flexion_link" />
<axis xyz="3.322486259379217e-27 -3.2562488430813894e-27 1.0" />
<limit effort="30" velocity="30" lower="-0.2617993877991494" upper="0.7853981633974483" />

</joint>

<link name="right_thumb_opposition_2_link">
<visual>
<origin xyz="0.0 -0.009999999999999981 0.0025000000000000577" rpy="1.5707963267948966 -1.7924713140128638e-29 -6.282435349965838e-30" />
<geometry>
<mesh filename=".//meshes/urdf/obj_combined_hulls/right_thumb_opposition_2_link.obj" />
</geometry>
</visual>
<collision>
<origin xyz="0.0 -0.009999999999999981 0.0025000000000000577" rpy="1.5707963267948966 -1.7924713140128638e-29 -6.282435349965838e-30" />
<geometry>
<mesh filename=".//meshes/urdf/obj_combined_hulls/right_thumb_opposition_2_link.obj" />
</geometry>
</collision>
<inertial>
<origin xyz="0.00038774005228614647 -0.0013445480356909627 0.005299531345519292" rpy="0 0 0" />
<mass value="0.008439884736772225" />
<inertia ixx="2.921204060469922e-07" ixy="2.3644804522092664e-08" ixz="-4.163538161777446e-09" iyy="2.436578376091954e-07" iyz="3.783541014096465e-08" izz="1.7780986735671503e-07" />
</inertial>
</link>

<joint name="right_thumb_opposition_2" type="continuous">
<origin xyz="1.3877787807814457e-16 0.010000000000000002 0.0" rpy="-3.1415926535897927 -1.4406711147935642e-27 1.852293190682536e-15" />
<parent link="right_thumb_opposition_link" />
<child link="right_thumb_opposition_2_link" />
<axis xyz="1.5325376511644032e-27 -5.551115123096601e-16 0.9999999999999998" />
<mimic joint="right_thumb_opposition" multiplier="-1.0" offset="0" />
<limit effort="30" velocity="30" />

</joint>

<link name="left_thumb_opposition_2_link">
<visual>
<origin xyz="0.0 -0.00999999999999998 0.00250000000000003" rpy="1.5707963267948966 3.038715138805295e-30 7.001191795667485e-30" />
<geometry>
<mesh filename=".//meshes/urdf/obj_combined_hulls/left_thumb_opposition_2_link.obj" />
</geometry>
</visual>
<collision>
<origin xyz="0.0 -0.00999999999999998 0.00250000000000003" rpy="1.5707963267948966 3.038715138805295e-30 7.001191795667485e-30" />
<geometry>
<mesh filename=".//meshes/urdf/obj_combined_hulls/left_thumb_opposition_2_link.obj" />
</geometry>
</collision>
<inertial>
<origin xyz="-0.0003868602581577054 -0.0013445590103030344 0.005299531719411975" rpy="0 0 0" />
<mass value="0.00843985155793267" />
<inertia ixx="2.9211912919336837e-07" ixy="-2.3654883958273058e-08" ixz="4.169440064085413e-09" iyy="2.4366285897938835e-07" iyz="3.783520433262168e-08" izz="1.7781465501626327e-07" />
</inertial>
</link>

<joint name="left_thumb_opposition_2" type="continuous">
<origin xyz="0.0 0.010000000000000037 2.7755575615628914e-17" rpy="3.1415926535897896 -1.920364695650018e-15 -1.9258075659001609e-16" />
<parent link="left_thumb_opposition_link" />
<child link="left_thumb_opposition_2_link" />
<axis xyz="1.9203646956500003e-15 3.872830714197175e-15 0.9999999999999997" />
<mimic joint="left_thumb_opposition" multiplier="-1.0" offset="0" />
<limit effort="30" velocity="30" />

</joint>

<link name="left_middle_finger_mcp_flexion_link">
<visual>
<origin xyz="-0.004999999999999949 0.0 0.0" rpy="-1.5707963267948966 -1.5707963267948966 0.0" />
<geometry>
<mesh filename=".//meshes/urdf/obj_combined_hulls/left_middle_finger_mcp_flexion_link.obj" />
</geometry>
</visual>
<collision>
<origin xyz="-0.004999999999999949 0.0 0.0" rpy="-1.5707963267948966 -1.5707963267948966 0.0" />
<geometry>
<mesh filename=".//meshes/urdf/obj_combined_hulls/left_middle_finger_mcp_flexion_link.obj" />
</geometry>
</collision>
<inertial>
<origin xyz="-0.004711241977214631 0.0026324339410568384 -0.00010618381221108103" rpy="0 0 0" />
<mass value="0.008551500024267173" />
<inertia ixx="4.470365212163508e-07" ixy="-7.399789963728613e-10" ixz="-2.6222867037350963e-10" iyy="4.899247390003296e-07" iyz="-2.3890716973544175e-09" izz="2.833370437831563e-07" />
</inertial>
</link>

<joint name="left_middle_finger_mcp_flexion" type="revolute">
<origin xyz="-5.838385330747542e-14 -2.7755575615628914e-17 -2.7755575615628914e-17" rpy="1.5707963267948966 4.795935670845869e-14 1.5707963267948966" />
<parent link="left_middle_finger_mcp_abduction_link" />
<child link="left_middle_finger_mcp_flexion_link" />
<axis xyz="-4.9533721378789184e-24 5.884755090604047e-24 1.0000000000000004" />
<limit effort="30" velocity="30" lower="-0.2617993877991494" upper="0.7853981633974483" />

</joint>

<link name="left_pinkie_finger_mcp_flexion_link">
<visual>
<origin xyz="-0.004999999999999977 0.0 0.0" rpy="-1.5707963267948966 -1.5707963267948966 0.0" />
<geometry>
<mesh filename=".//meshes/urdf/obj_combined_hulls/left_pinkie_finger_mcp_flexion_link.obj" />
</geometry>
</visual>
<collision>
<origin xyz="-0.004999999999999977 0.0 0.0" rpy="-1.5707963267948966 -1.5707963267948966 0.0" />
<geometry>
<mesh filename=".//meshes/urdf/obj_combined_hulls/left_pinkie_finger_mcp_flexion_link.obj" />
</geometry>
</collision>
<inertial>
<origin xyz="-0.004711241977214655 0.002632433941056829 -0.00010618381221107514" rpy="0 0 0" />
<mass value="0.008551500024267173" />
<inertia ixx="4.470365212163511e-07" ixy="-7.399789963728304e-10" ixz="-2.622286703737048e-10" iyy="4.899247390003303e-07" iyz="-2.389071697354349e-09" izz="2.833370437831571e-07" />
</inertial>
</link>

<joint name="left_pinkie_finger_mcp_flexion" type="revolute">
<origin xyz="-5.809241976351132e-14 -2.7755575615628914e-17 -2.7755575615628914e-17" rpy="1.5707963267948966 4.646331324985575e-14 1.5707963267948966" />
<parent link="left_pinkie_finger_mcp_abduction_link" />
<child link="left_pinkie_finger_mcp_flexion_link" />
<axis xyz="-1.6479090293954654e-16 7.300043886039135e-24 1.00000000000002" />
<limit effort="30" velocity="30" lower="-0.2617993877991494" upper="0.7853981633974483" />

</joint>

<link name="left_index_finger_mcp_flexion_link">
<visual>
<origin xyz="-0.0050000000000000044 0.0 0.0" rpy="-1.5707963267948966 -1.5707963267948966 0.0" />
<geometry>
<mesh filename=".//meshes/urdf/obj_combined_hulls/left_index_finger_mcp_flexion_link.obj" />
</geometry>
</visual>
<collision>
<origin xyz="-0.0050000000000000044 0.0 0.0" rpy="-1.5707963267948966 -1.5707963267948966 0.0" />
<geometry>
<mesh filename=".//meshes/urdf/obj_combined_hulls/left_index_finger_mcp_flexion_link.obj" />
</geometry>
</collision>
<inertial>
<origin xyz="-0.004711241977214677 0.0026324339410568292 -0.00010618381221106747" rpy="0 0 0" />
<mass value="0.008551500024267173" />
<inertia ixx="4.470365212163518e-07" ixy="-7.399789963728053e-10" ixz="-2.622286703741517e-10" iyy="4.899247390003314e-07" iyz="-2.3890716973541127e-09" izz="2.8333704378315715e-07" />
</inertial>
</link>

<joint name="left_index_finger_mcp_flexion" type="revolute">
<origin xyz="-5.819650317206992e-14 -8.326672684688674e-17 2.7755575615628914e-17" rpy="1.5707963267948966 4.646331324985669e-14 1.5707963267948966" />
<parent link="left_index_finger_mcp_abduction_link" />
<child link="left_index_finger_mcp_flexion_link" />
<axis xyz="-6.62715655053132e-24 1.4830890919149457e-23 0.9999999999999997" />
<limit effort="30" velocity="30" lower="-0.2617993877991494" upper="0.7853981633974483" />

</joint>

<link name="left_ring_finger_mcp_flexion_link">
<visual>
<origin xyz="-0.0050000000000000044 0.0 -6.938893903907228e-18" rpy="-1.5707963267948966 -1.5707963267948966 0.0" />
<geometry>
<mesh filename=".//meshes/urdf/obj_combined_hulls/left_ring_finger_mcp_flexion_link.obj" />
</geometry>
</visual>
<collision>
<origin xyz="-0.0050000000000000044 0.0 -6.938893903907228e-18" rpy="-1.5707963267948966 -1.5707963267948966 0.0" />
<geometry>
<mesh filename=".//meshes/urdf/obj_combined_hulls/left_ring_finger_mcp_flexion_link.obj" />
</geometry>
</collision>
<inertial>
<origin xyz="-0.004711241977214683 0.0026324339410568457 -0.00010618381221104233" rpy="0 0 0" />
<mass value="0.008551500024267173" />
<inertia ixx="4.470365212163523e-07" ixy="-7.399789963726178e-10" ixz="-2.6222867037318807e-10" iyy="4.899247390003336e-07" iyz="-2.3890716973534845e-09" izz="2.8333704378315736e-07" />
</inertial>
</link>

<joint name="left_ring_finger_mcp_flexion" type="revolute">
<origin xyz="-5.825201432330118e-14 1.0547118733938987e-15 -2.7755575615628914e-17" rpy="1.5707963267948961 4.646331324985528e-14 1.570796326794896" />
<parent link="left_ring_finger_mcp_abduction_link" />
<child link="left_ring_finger_mcp_flexion_link" />
<axis xyz="-7.754116124302729e-16 6.586411158873311e-24 1.0000000000000284" />
<limit effort="30" velocity="30" lower="-0.2617993877991494" upper="0.7853981633974483" />

</joint>

<link name="right_middle_finger_mcp_flexion_2_link">
<visual>
<origin xyz="0.0050000000000000044 0.0 0.0" rpy="-1.5707963267948966 -1.5707963267948966 0.0" />
<geometry>
<mesh filename=".//meshes/urdf/obj_combined_hulls/right_middle_finger_mcp_flexion_2_link.obj" />
</geometry>
</visual>
<collision>
<origin xyz="0.0050000000000000044 0.0 0.0" rpy="-1.5707963267948966 -1.5707963267948966 0.0" />
<geometry>
<mesh filename=".//meshes/urdf/obj_combined_hulls/right_middle_finger_mcp_flexion_2_link.obj" />
</geometry>
</collision>
<inertial>
<origin xyz="-0.017753106114925206 0.0006974648535870624 -1.4930446210341499e-05" rpy="0 0 0" />
<mass value="0.028663232704364102" />
<inertia ixx="7.506214439170214e-07" ixy="-9.690782029879847e-08" ixz="-1.334994622456006e-09" iyy="5.0795461463279e-06" iyz="-9.092917988747228e-10" izz="5.09042878404653e-06" />
</inertial>
</link>

<joint name="right_middle_finger_mcp_flexion_2" type="continuous">
<origin xyz="-0.010000000000000009 2.7755575615628914e-17 1.2704420848663744e-13" rpy="-2.629064860400033e-25 -5.808777275594922e-27 -8.512891816585116e-14" />
<parent link="right_middle_finger_mcp_flexion_link" />
<child link="right_middle_finger_mcp_flexion_2_link" />
<axis xyz="-5.808759707924014e-27 2.629134936432474e-25 1.0" />
<mimic joint="right_middle_finger_mcp_flexion" multiplier="1.0" offset="0" />
<limit effort="30" velocity="30" />

</joint>

<link name="right_pinkie_finger_mcp_flexion_2_link">
<visual>
<origin xyz="0.0050000000000000044 -2.7755575615628914e-17 0.0" rpy="-1.5707963267948966 -1.5707963267948966 0.0" />
<geometry>
<mesh filename=".//meshes/urdf/obj_combined_hulls/right_pinkie_finger_mcp_flexion_2_link.obj" />
</geometry>
</visual>
<collision>
<origin xyz="0.0050000000000000044 -2.7755575615628914e-17 0.0" rpy="-1.5707963267948966 -1.5707963267948966 0.0" />
<geometry>
<mesh filename=".//meshes/urdf/obj_combined_hulls/right_pinkie_finger_mcp_flexion_2_link.obj" />
</geometry>
</collision>
<inertial>
<origin xyz="-0.01775310611492513 0.0006974648535870166 -1.4930446210272529e-05" rpy="0 0 0" />
<mass value="0.028663232704364102" />
<inertia ixx="7.506214439170196e-07" ixy="-9.690782029880759e-08" ixz="-1.3349946224639048e-09" iyy="5.079546146327878e-06" iyz="-9.092917988761157e-10" izz="5.090428784046508e-06" />
</inertial>
</link>

<joint name="right_pinkie_finger_mcp_flexion_2" type="continuous">
<origin xyz="-0.009999999999999981 0.0 1.267180804731538e-13" rpy="-1.371007635183962e-27 -5.6933306144986086e-27 -8.512891816585538e-14" />
<parent link="right_pinkie_finger_mcp_flexion_link" />
<child link="right_pinkie_finger_mcp_flexion_2_link" />
<axis xyz="-5.691509969651035e-27 1.3742573892796945e-27 1.0" />
<mimic joint="right_pinkie_finger_mcp_flexion" multiplier="1.0" offset="0" />
<limit effort="30" velocity="30" />

</joint>

<link name="right_index_finger_mcp_flexion_2_link">
<visual>
<origin xyz="0.004999999999999977 0.0 0.0" rpy="-1.5707963267948966 -1.5707963267948966 0.0" />
<geometry>
<mesh filename=".//meshes/urdf/obj_combined_hulls/right_index_finger_mcp_flexion_2_link.obj" />
</geometry>
</visual>
<collision>
<origin xyz="0.004999999999999977 0.0 0.0" rpy="-1.5707963267948966 -1.5707963267948966 0.0" />
<geometry>
<mesh filename=".//meshes/urdf/obj_combined_hulls/right_index_finger_mcp_flexion_2_link.obj" />
</geometry>
</collision>
<inertial>
<origin xyz="-0.017753106114925105 0.0006974648535870317 -1.4930446210353203e-05" rpy="0 0 0" />
<mass value="0.028663232704364102" />
<inertia ixx="7.506214439170126e-07" ixy="-9.690782029880812e-08" ixz="-1.3349946224640553e-09" iyy="5.0795461463278675e-06" iyz="-9.092917988723148e-10" izz="5.090428784046508e-06" />
</inertial>
</link>

<joint name="right_index_finger_mcp_flexion_2" type="continuous">
<origin xyz="-0.009999999999999981 5.551115123125783e-17 1.268984917146554e-13" rpy="1.251359558100394e-26 -5.765905817778942e-27 1.2195827499338784e-14" />
<parent link="right_index_finger_mcp_flexion_link" />
<child link="right_index_finger_mcp_flexion_2_link" />
<axis xyz="-5.764085172931368e-27 -1.2506640681169203e-26 1.0" />
<mimic joint="right_index_finger_mcp_flexion" multiplier="1.0" offset="0" />
<limit effort="30" velocity="30" />

</joint>

<link name="right_ring_finger_mcp_flexion_2_link">
<visual>
<origin xyz="0.0050000000000000044 2.7755575615628914e-17 0.0" rpy="-1.5707963267948966 -1.5707963267948966 0.0" />
<geometry>
<mesh filename=".//meshes/urdf/obj_combined_hulls/right_ring_finger_mcp_flexion_2_link.obj" />
</geometry>
</visual>
<collision>
<origin xyz="0.0050000000000000044 2.7755575615628914e-17 0.0" rpy="-1.5707963267948966 -1.5707963267948966 0.0" />
<geometry>
<mesh filename=".//meshes/urdf/obj_combined_hulls/right_ring_finger_mcp_flexion_2_link.obj" />
</geometry>
</collision>
<inertial>
<origin xyz="-0.01775310611492491 0.0006974648535867941 -1.4930446210123485e-05" rpy="0 0 0" />
<mass value="0.028663232704364102" />
<inertia ixx="7.506214439170268e-07" ixy="-9.690782029885475e-08" ixz="-1.334994622464231e-09" iyy="5.079546146327864e-06" iyz="-9.092917988594362e-10" izz="5.0904287840464706e-06" />
</inertial>
</link>

<joint name="right_ring_finger_mcp_flexion_2" type="continuous">
<origin xyz="-0.010000000000000037 2.7755575615628914e-17 1.2612133559741778e-13" rpy="-1.6653345395208024e-16 1.6653345369038017e-16 1.219582749934419e-14" />
<parent link="right_ring_finger_mcp_flexion_link" />
<child link="right_ring_finger_mcp_flexion_2_link" />
<axis xyz="1.6653345369039575e-16 1.6653345395208404e-16 0.9999999999999998" />
<mimic joint="right_ring_finger_mcp_flexion" multiplier="1.0" offset="0" />
<limit effort="30" velocity="30" />

</joint>

<link name="right_thumb_abduction_link">
<visual>
<origin xyz="0.0 -2.7755575615628914e-17 -0.005999999999999983" rpy="2.408554367752176 -1.6185429562719805e-30 -5.530012156504861e-30" />
<geometry>
<mesh filename=".//meshes/urdf/obj_combined_hulls/right_thumb_abduction_link.obj" />
</geometry>
</visual>
<collision>
<origin xyz="0.0 -2.7755575615628914e-17 -0.005999999999999983" rpy="2.408554367752176 -1.6185429562719805e-30 -5.530012156504861e-30" />
<geometry>
<mesh filename=".//meshes/urdf/obj_combined_hulls/right_thumb_abduction_link.obj" />
</geometry>
</collision>
<inertial>
<origin xyz="0.0010911350554360503 0.003234398213359862 -0.00775714558371247" rpy="0 0 0" />
<mass value="0.012765482752373875" />
<inertia ixx="5.78916421332262e-07" ixy="1.25732123213309e-08" ixz="-2.6286397920908605e-09" iyy="4.1722746386258616e-07" iyz="1.204110056321561e-07" izz="3.369189516118902e-07" />
</inertial>
</link>

<joint name="right_thumb_abduction" type="revolute">
<origin xyz="0.0 -0.004 0.00250000000000003" rpy="-1.5707963267948999 -1.7924713140025074e-29 -2.0258739518743e-29" />
<parent link="right_thumb_opposition_2_link" />
<child link="right_thumb_abduction_link" />
<axis xyz="1.5594847125043714e-29 -1.379523666507455e-14 1.0000000000000093" />
<limit effort="30" velocity="30" lower="-1.0471975511965976" upper="0" />

</joint>

<link name="left_thumb_abduction_link">
<visual>
<origin xyz="0.0 -2.7755575615628914e-17 -0.0059999999999999845" rpy="2.408554367752176 -2.009157007409366e-29 3.786532345060856e-29" />
<geometry>
<mesh filename=".//meshes/urdf/obj_combined_hulls/left_thumb_abduction_link.obj" />
</geometry>
</visual>
<collision>
<origin xyz="0.0 -2.7755575615628914e-17 -0.0059999999999999845" rpy="2.408554367752176 -2.009157007409366e-29 3.786532345060856e-29" />
<geometry>
<mesh filename=".//meshes/urdf/obj_combined_hulls/left_thumb_abduction_link.obj" />
</geometry>
</collision>
<inertial>
<origin xyz="-0.0010908578141504636 0.0032343857175785545 -0.007757141921007659" rpy="0 0 0" />
<mass value="0.0127654939716413" />
<inertia ixx="5.789164100978102e-07" ixy="-1.2562932149633889e-08" ixz="2.5840967157659508e-09" iyy="4.1723517232310925e-07" iyz="1.2041080829750034e-07" izz="3.369277600845335e-07" />
</inertial>
</link>

<joint name="left_thumb_abduction" type="revolute">
<origin xyz="-2.7755575615628914e-17 -0.003999999999999997 0.0025000000000000022" rpy="-1.570796326794894 -1.2246468349439602e-16 -5.655856219325425e-29" />
<parent link="left_thumb_opposition_2_link" />
<child link="left_thumb_abduction_link" />
<axis xyz="8.326869437131315e-29 -3.1244082964614943e-15 1.0000000000000202" />
<limit effort="30" velocity="30" lower="0" upper="1.0471975511965976" />

</joint>

<link name="left_middle_finger_mcp_flexion_2_link">
<visual>
<origin xyz="0.0050000000000000044 0.0 0.0" rpy="-1.5707963267948966 -1.5707963267948966 0.0" />
<geometry>
<mesh filename=".//meshes/urdf/obj_combined_hulls/left_middle_finger_mcp_flexion_2_link.obj" />
</geometry>
</visual>
<collision>
<origin xyz="0.0050000000000000044 0.0 0.0" rpy="-1.5707963267948966 -1.5707963267948966 0.0" />
<geometry>
<mesh filename=".//meshes/urdf/obj_combined_hulls/left_middle_finger_mcp_flexion_2_link.obj" />
</geometry>
</collision>
<inertial>
<origin xyz="-0.017753106114925067 0.0006974648535870728 -1.4930446195195225e-05" rpy="0 0 0" />
<mass value="0.028663232704364102" />
<inertia ixx="7.506214439170263e-07" ixy="-9.690782029880476e-08" ixz="-1.3349946236882504e-09" iyy="5.079546146327872e-06" iyz="-9.092917997200197e-10" izz="5.090428784046496e-06" />
</inertial>
</link>

<joint name="left_middle_finger_mcp_flexion_2" type="continuous">
<origin xyz="-0.009999999999999953 0.0 5.837691441357151e-14" rpy="-3.6505082826698446e-24 -6.123233767588625e-17 4.6948446559022545e-14" />
<parent link="left_middle_finger_mcp_flexion_link" />
<child link="left_middle_finger_mcp_flexion_2_link" />
<axis xyz="-6.123233767588624e-17 3.650511843074102e-24 0.9999999999999992" />
<mimic joint="left_middle_finger_mcp_flexion" multiplier="1.0" offset="0" />
<limit effort="30" velocity="30" />

</joint>

<link name="left_pinkie_finger_mcp_flexion_2_link">
<visual>
<origin xyz="0.005000000000000032 -2.7755575615628914e-17 -1.3877787807814457e-17" rpy="-1.5707963267948966 -1.5707963267948966 0.0" />
<geometry>
<mesh filename=".//meshes/urdf/obj_combined_hulls/left_pinkie_finger_mcp_flexion_2_link.obj" />
</geometry>
</visual>
<collision>
<origin xyz="0.005000000000000032 -2.7755575615628914e-17 -1.3877787807814457e-17" rpy="-1.5707963267948966 -1.5707963267948966 0.0" />
<geometry>
<mesh filename=".//meshes/urdf/obj_combined_hulls/left_pinkie_finger_mcp_flexion_2_link.obj" />
</geometry>
</collision>
<inertial>
<origin xyz="-0.017753106114925123 0.0006974648535870242 -1.4930446195108968e-05" rpy="0 0 0" />
<mass value="0.028663232704364102" />
<inertia ixx="7.506214439170323e-07" ixy="-9.690782029879777e-08" ixz="-1.3349946236969674e-09" iyy="5.07954614632797e-06" iyz="-9.092917997223176e-10" izz="5.090428784046564e-06" />
</inertial>
</link>

<joint name="left_pinkie_finger_mcp_flexion_2" type="continuous">
<origin xyz="-0.009999999999999981 0.0 5.809241976351132e-14" rpy="1.016033814377578e-16 2.2602324111072713e-16 4.646331324977308e-14" />
<parent link="left_pinkie_finger_mcp_flexion_link" />
<child link="left_pinkie_finger_mcp_flexion_2_link" />
<axis xyz="2.260232410913037e-16 -1.016033814377584e-16 1.0" />
<mimic joint="left_pinkie_finger_mcp_flexion" multiplier="1.0" offset="0" />
<limit effort="30" velocity="30" />

</joint>

<link name="left_index_finger_mcp_flexion_2_link">
<visual>
<origin xyz="0.0050000000000000044 -5.551115123125783e-17 -3.469446951953614e-18" rpy="-1.5707963267948966 -1.5707963267948966 0.0" />
<geometry>
<mesh filename=".//meshes/urdf/obj_combined_hulls/left_index_finger_mcp_flexion_2_link.obj" />
</geometry>
</visual>
<collision>
<origin xyz="0.0050000000000000044 -5.551115123125783e-17 -3.469446951953614e-18" rpy="-1.5707963267948966 -1.5707963267948966 0.0" />
<geometry>
<mesh filename=".//meshes/urdf/obj_combined_hulls/left_index_finger_mcp_flexion_2_link.obj" />
</geometry>
</collision>
<inertial>
<origin xyz="-0.01775310611492508 0.000697464853587014 -1.4930446195198618e-05" rpy="0 0 0" />
<mass value="0.028663232704364102" />
<inertia ixx="7.506214439170216e-07" ixy="-9.690782029880669e-08" ixz="-1.3349946236910686e-09" iyy="5.079546146327866e-06" iyz="-9.092917997206252e-10" izz="5.0904287840465045e-06" />
</inertial>
</link>

<joint name="left_index_finger_mcp_flexion_2" type="continuous">
<origin xyz="-0.010000000000000009 -2.7755575615628914e-17 5.821731985378165e-14" rpy="1.3268549661479943e-15 -5.686432309228694e-16 4.694844655902256e-14" />
<parent link="left_index_finger_mcp_flexion_link" />
<child link="left_index_finger_mcp_flexion_2_link" />
<axis xyz="-5.686432309034461e-16 -1.32685496614801e-15 1.0" />
<mimic joint="left_index_finger_mcp_flexion" multiplier="1.0" offset="0" />
<limit effort="30" velocity="30" />

</joint>

<link name="left_ring_finger_mcp_flexion_2_link">
<visual>
<origin xyz="0.0050000000000000044 0.0 0.0" rpy="-1.5707963267948966 -1.5707963267948966 0.0" />
<geometry>
<mesh filename=".//meshes/urdf/obj_combined_hulls/left_ring_finger_mcp_flexion_2_link.obj" />
</geometry>
</visual>
<collision>
<origin xyz="0.0050000000000000044 0.0 0.0" rpy="-1.5707963267948966 -1.5707963267948966 0.0" />
<geometry>
<mesh filename=".//meshes/urdf/obj_combined_hulls/left_ring_finger_mcp_flexion_2_link.obj" />
</geometry>
</collision>
<inertial>
<origin xyz="-0.017753106114924998 0.00069746485358716 -1.4930446195059087e-05" rpy="0 0 0" />
<mass value="0.028663232704364102" />
<inertia ixx="7.506214439170473e-07" ixy="-9.690782029879333e-08" ixz="-1.3349946236854905e-09" iyy="5.079546146327896e-06" iyz="-9.092917997292435e-10" izz="5.090428784046502e-06" />
</inertial>
</link>

<joint name="left_ring_finger_mcp_flexion_2" type="continuous">
<origin xyz="-0.010000000000000009 0.0 5.820344206597383e-14" rpy="1.261925670429066e-15 1.263567642625866e-15 4.334382635048975e-14" />
<parent link="left_ring_finger_mcp_flexion_link" />
<child link="left_ring_finger_mcp_flexion_2_link" />
<axis xyz="1.263567642625866e-15 -1.2619256704290226e-15 1.0" />
<mimic joint="left_ring_finger_mcp_flexion" multiplier="1.0" offset="0" />
<limit effort="30" velocity="30" />

</joint>

<link name="right_middle_finger_pip_link">
<visual>
<origin xyz="0.043499999999999955 2.7755575615628914e-17 6.938893903907228e-18" rpy="-1.5707963267948966 -1.5707963267948966 0.0" />
<geometry>
<mesh filename=".//meshes/urdf/obj_combined_hulls/right_middle_finger_pip_link.obj" />
</geometry>
</visual>
<collision>
<origin xyz="0.043499999999999955 2.7755575615628914e-17 6.938893903907228e-18" rpy="-1.5707963267948966 -1.5707963267948966 0.0" />
<geometry>
<mesh filename=".//meshes/urdf/obj_combined_hulls/right_middle_finger_pip_link.obj" />
</geometry>
</collision>
<inertial>
<origin xyz="-0.002984789265693259 0.00016924584932460421 -3.5854567703969945e-06" rpy="0 0 0" />
<mass value="0.001355945340955129" />
<inertia ixx="6.243282502825332e-09" ixy="-1.882376880637704e-09" ixz="-2.845186413578763e-12" iyy="1.608764762340794e-08" iyz="-1.3567055754999399e-12" izz="1.444166351497804e-08" />
</inertial>
</link>

<joint name="right_middle_finger_pip" type="revolute">
<origin xyz="-0.03849999999999995 -2.7755575615628914e-17 -1.345867861601846e-13" rpy="9.658940314229847e-15 1.6566130150647106e-14 -1.6492728788773517e-14" />
<parent link="right_middle_finger_mcp_flexion_2_link" />
<child link="right_middle_finger_pip_link" />
<axis xyz="1.65661301506468e-14 -9.658940314230106e-15 0.9999999999999911" />
<limit effort="30" velocity="30" lower="0" upper="0.9599310885968813" />

</joint>

<link name="right_pinkie_finger_pip_link">
<visual>
<origin xyz="0.043499999999999955 -2.7755575615628914e-17 1.3877787807814457e-17" rpy="-1.5707963267948966 -1.5707963267948966 0.0" />
<geometry>
<mesh filename=".//meshes/urdf/obj_combined_hulls/right_pinkie_finger_pip_link.obj" />
</geometry>
</visual>
<collision>
<origin xyz="0.043499999999999955 -2.7755575615628914e-17 1.3877787807814457e-17" rpy="-1.5707963267948966 -1.5707963267948966 0.0" />
<geometry>
<mesh filename=".//meshes/urdf/obj_combined_hulls/right_pinkie_finger_pip_link.obj" />
</geometry>
</collision>
<inertial>
<origin xyz="-0.002984789265693265 0.0001692458493245501 -3.5854567703917133e-06" rpy="0 0 0" />
<mass value="0.001355945340955129" />
<inertia ixx="6.243282502825544e-09" ixy="-1.882376880637713e-09" ixz="-2.8451864136236036e-12" iyy="1.6087647623407906e-08" iyz="-1.3567055754796713e-12" izz="1.4441663514978044e-08" />
</inertial>
</link>

<joint name="right_pinkie_finger_pip" type="revolute">
<origin xyz="-0.03849999999999995 -2.7755575615628914e-17 -1.315197950546576e-13" rpy="3.4036159478568794e-28 -4.489833165893209e-28 -6.609601055202351e-15" />
<parent link="right_pinkie_finger_mcp_flexion_2_link" />
<child link="right_pinkie_finger_pip_link" />
<axis xyz="-4.471626717417486e-28 -3.360221275329671e-28 1.0" />
<limit effort="30" velocity="30" lower="0" upper="0.9599310885968813" />

</joint>

<link name="right_index_finger_pip_link">
<visual>
<origin xyz="0.043499999999999955 0.0 -3.469446951953614e-18" rpy="-1.5707963267948966 -1.5707963267948966 0.0" />
<geometry>
<mesh filename=".//meshes/urdf/obj_combined_hulls/right_index_finger_pip_link.obj" />
</geometry>
</visual>
<collision>
<origin xyz="0.043499999999999955 0.0 -3.469446951953614e-18" rpy="-1.5707963267948966 -1.5707963267948966 0.0" />
<geometry>
<mesh filename=".//meshes/urdf/obj_combined_hulls/right_index_finger_pip_link.obj" />
</geometry>
</collision>
<inertial>
<origin xyz="-0.002984789265693266 0.00016924584932457692 -3.585456770407781e-06" rpy="0 0 0" />
<mass value="0.001355945340955129" />
<inertia ixx="6.24328250282555e-09" ixy="-1.882376880637717e-09" ixz="-2.845186413617323e-12" iyy="1.608764762340791e-08" iyz="-1.356705575478697e-12" izz="1.4441663514978052e-08" />
</inertial>
</link>

<joint name="right_index_finger_pip" type="revolute">
<origin xyz="-0.03849999999999998 0.0 -1.3172102297787092e-13" rpy="-1.328919069914834e-26 2.010380693127929e-28 -1.2195827499324847e-14" />
<parent link="right_index_finger_mcp_flexion_2_link" />
<child link="right_index_finger_pip_link" />
<axis xyz="2.028587141603652e-28 1.329614559898412e-26 1.0" />
<limit effort="30" velocity="30" lower="0" upper="0.9599310885968813" />

</joint>

<link name="right_ring_finger_pip_link">
<visual>
<origin xyz="0.04349999999999993 -2.7755575615628914e-17 -6.938893903907228e-18" rpy="-1.5707963267948966 -1.5707963267948966 0.0" />
<geometry>
<mesh filename=".//meshes/urdf/obj_combined_hulls/right_ring_finger_pip_link.obj" />
</geometry>
</visual>
<collision>
<origin xyz="0.04349999999999993 -2.7755575615628914e-17 -6.938893903907228e-18" rpy="-1.5707963267948966 -1.5707963267948966 0.0" />
<geometry>
<mesh filename=".//meshes/urdf/obj_combined_hulls/right_ring_finger_pip_link.obj" />
</geometry>
</collision>
<inertial>
<origin xyz="-0.0029847892656932875 0.0001692458493245524 -3.5854567704100934e-06" rpy="0 0 0" />
<mass value="0.001355945340955129" />
<inertia ixx="6.243282502825547e-09" ixy="-1.8823768806377244e-09" ixz="-2.8451864136184296e-12" iyy="1.6087647623407896e-08" iyz="-1.3567055754777231e-12" izz="1.4441663514978035e-08" />
</inertial>
</link>

<joint name="right_ring_finger_pip" type="revolute">
<origin xyz="-0.03849999999999995 2.7755575615628914e-17 -1.3365697437706103e-13" rpy="-9.60342916300004e-15 -1.6455107848192517e-14 -1.2195827499330374e-14" />
<parent link="right_ring_finger_mcp_flexion_2_link" />
<child link="right_ring_finger_pip_link" />
<axis xyz="-1.6455107848192542e-14 9.60342916300024e-15 1.0000000000000089" />
<limit effort="30" velocity="30" lower="0" upper="0.9599310885968813" />

</joint>

<link name="right_thumb_mcp_flexion_link">
<visual>
<origin xyz="0.010000000000000078 0.0 0.0" rpy="-1.5707963267948966 -1.5707963267948966 0.0" />
<geometry>
<mesh filename=".//meshes/urdf/obj_combined_hulls/right_thumb_mcp_flexion_link.obj" />
</geometry>
</visual>
<collision>
<origin xyz="0.010000000000000078 0.0 0.0" rpy="-1.5707963267948966 -1.5707963267948966 0.0" />
<geometry>
<mesh filename=".//meshes/urdf/obj_combined_hulls/right_thumb_mcp_flexion_link.obj" />
</geometry>
</collision>
<inertial>
<origin xyz="-0.00597746199289117 0.0003702119471738163 0.0015362490695625653" rpy="0 0 0" />
<mass value="0.006345688475300095" />
<inertia ixx="1.1014718268788303e-07" ixy="4.8656645750806755e-09" ixz="-1.810444931282839e-08" iyy="2.1070524240890932e-07" iyz="-2.7495447673011545e-09" izz="1.4737796264273575e-07" />
</inertial>
</link>

<joint name="right_thumb_mcp_flexion" type="revolute">
<origin xyz="3.3306690738754696e-16 0.007431448254773959 -0.012691306063588592" rpy="-1.5707963267948966 -0.733038285837606 -1.5707963267948692" />
<parent link="right_thumb_abduction_link" />
<child link="right_thumb_mcp_flexion_link" />
<axis xyz="-2.032953842009841e-14 6.9280974042875036e-15 0.9999999999999882" />
<limit effort="30" velocity="30" lower="-0.17453292519943295" upper="0.5235987755982988" />

</joint>

<link name="left_thumb_mcp_flexion_link">
<visual>
<origin xyz="0.01000000000000005 -1.3877787807814457e-17 2.7755575615628914e-17" rpy="-1.5707963267948966 -1.5707963267948966 0.0" />
<geometry>
<mesh filename=".//meshes/urdf/obj_combined_hulls/left_thumb_mcp_flexion_link.obj" />
</geometry>
</visual>
<collision>
<origin xyz="0.01000000000000005 -1.3877787807814457e-17 2.7755575615628914e-17" rpy="-1.5707963267948966 -1.5707963267948966 0.0" />
<geometry>
<mesh filename=".//meshes/urdf/obj_combined_hulls/left_thumb_mcp_flexion_link.obj" />
</geometry>
</collision>
<inertial>
<origin xyz="-0.005977461992891186 0.0003702118682950721 -0.0015362490695625373" rpy="0 0 0" />
<mass value="0.006345688475300095" />
<inertia ixx="1.1014717911499577e-07" ixy="4.865662213969141e-09" ixz="1.8104449312827868e-08" iyy="2.1070524240889423e-07" iyz="2.7495089900609167e-09" izz="1.4737795906986288e-07" />
</inertial>
</link>

<joint name="left_thumb_mcp_flexion" type="revolute">
<origin xyz="0.0 0.007431448254773959 -0.012691306063588592" rpy="-1.5707963267948966 -0.7330382858376174 -1.570796326794895" />
<parent link="left_thumb_abduction_link" />
<child link="left_thumb_mcp_flexion_link" />
<axis xyz="-1.1312229114718844e-15 -1.1778413540425398e-15 0.9999999999999684" />
<limit effort="30" velocity="30" lower="-0.17453292519943295" upper="0.5235987755982988" />

</joint>

<link name="left_middle_finger_pip_link">
<visual>
<origin xyz="0.043499999999999955 0.0 0.0" rpy="-1.5707963267948966 -1.5707963267948966 0.0" />
<geometry>
<mesh filename=".//meshes/urdf/obj_combined_hulls/left_middle_finger_pip_link.obj" />
</geometry>
</visual>
<collision>
<origin xyz="0.043499999999999955 0.0 0.0" rpy="-1.5707963267948966 -1.5707963267948966 0.0" />
<geometry>
<mesh filename=".//meshes/urdf/obj_combined_hulls/left_middle_finger_pip_link.obj" />
</geometry>
</collision>
<inertial>
<origin xyz="-0.002984789265693265 0.00016924584932457692 -3.5854567704040613e-06" rpy="0 0 0" />
<mass value="0.001355945340955129" />
<inertia ixx="6.243282502825624e-09" ixy="-1.882376880637707e-09" ixz="-2.8451864136156654e-12" iyy="1.608764762340811e-08" iyz="-1.356705575478932e-12" izz="1.4441663514978052e-08" />
</inertial>
</link>

<joint name="left_middle_finger_pip" type="revolute">
<origin xyz="-0.03849999999999992 0.0 -4.08006961549745e-15" rpy="1.0160337799869147e-16 2.872555837205623e-16 4.485351847000438e-14" />
<parent link="left_middle_finger_mcp_flexion_2_link" />
<child link="left_middle_finger_pip_link" />
<axis xyz="2.8725558373998538e-16 -1.0160337799867426e-16 1.0" />
<limit effort="30" velocity="30" lower="0" upper="0.9599310885968813" />

</joint>

<link name="left_pinkie_finger_pip_link">
<visual>
<origin xyz="0.043499999999999955 0.0 0.0" rpy="-1.5707963267948966 -1.5707963267948966 0.0" />
<geometry>
<mesh filename=".//meshes/urdf/obj_combined_hulls/left_pinkie_finger_pip_link.obj" />
</geometry>
</visual>
<collision>
<origin xyz="0.043499999999999955 0.0 0.0" rpy="-1.5707963267948966 -1.5707963267948966 0.0" />
<geometry>
<mesh filename=".//meshes/urdf/obj_combined_hulls/left_pinkie_finger_pip_link.obj" />
</geometry>
</collision>
<inertial>
<origin xyz="-0.002984789265693259 0.00016924584932457643 -3.585456770403962e-06" rpy="0 0 0" />
<mass value="0.001355945340955129" />
<inertia ixx="6.2432825028255505e-09" ixy="-1.882376880637714e-09" ixz="-2.8451864136154214e-12" iyy="1.60876476234079e-08" iyz="-1.3567055754785923e-12" izz="1.4441663514978044e-08" />
</inertial>
</link>

<joint name="left_pinkie_finger_pip" type="revolute">
<origin xyz="-0.03849999999999992 -2.7755575615628914e-17 -4.135580766728708e-15" rpy="-3.294032712636351e-24 4.953371975023825e-24 4.350371343661723e-14" />
<parent link="left_pinkie_finger_mcp_flexion_2_link" />
<child link="left_pinkie_finger_pip_link" />
<axis xyz="4.953371975023826e-24 3.294022193180784e-24 0.9999999999999992" />
<limit effort="30" velocity="30" lower="0" upper="0.9599310885968813" />

</joint>

<link name="left_index_finger_pip_link">
<visual>
<origin xyz="0.04349999999999998 -2.7755575615628914e-17 0.0" rpy="-1.5707963267948966 -1.5707963267948966 0.0" />
<geometry>
<mesh filename=".//meshes/urdf/obj_combined_hulls/left_index_finger_pip_link.obj" />
</geometry>
</visual>
<collision>
<origin xyz="0.04349999999999998 -2.7755575615628914e-17 0.0" rpy="-1.5707963267948966 -1.5707963267948966 0.0" />
<geometry>
<mesh filename=".//meshes/urdf/obj_combined_hulls/left_index_finger_pip_link.obj" />
</geometry>
</collision>
<inertial>
<origin xyz="-0.002984789265693228 0.00016924584932454914 -3.5854567704046576e-06" rpy="0 0 0" />
<mass value="0.001355945340955129" />
<inertia ixx="6.243282502825549e-09" ixy="-1.8823768806377137e-09" ixz="-2.8451864136159707e-12" iyy="1.6087647623407876e-08" iyz="-1.3567055754786866e-12" izz="1.444166351497802e-08" />
</inertial>
</link>

<joint name="left_index_finger_pip" type="revolute">
<origin xyz="-0.03849999999999995 -2.7755575615628914e-17 -4.073130721593543e-15" rpy="-1.735768331483401e-15 1.872345339758885e-15 4.319208884133366e-14" />
<parent link="left_index_finger_mcp_flexion_2_link" />
<child link="left_index_finger_pip_link" />
<axis xyz="1.872345339380119e-15 1.7357683314834195e-15 0.999999999999965" />
<limit effort="30" velocity="30" lower="0" upper="0.9599310885968813" />

</joint>

<link name="left_ring_finger_pip_link">
<visual>
<origin xyz="0.04350000000000001 2.7755575615628914e-17 0.0" rpy="-1.5707963267948966 -1.5707963267948966 0.0" />
<geometry>
<mesh filename=".//meshes/urdf/obj_combined_hulls/left_ring_finger_pip_link.obj" />
</geometry>
</visual>
<collision>
<origin xyz="0.04350000000000001 2.7755575615628914e-17 0.0" rpy="-1.5707963267948966 -1.5707963267948966 0.0" />
<geometry>
<mesh filename=".//meshes/urdf/obj_combined_hulls/left_ring_finger_pip_link.obj" />
</geometry>
</collision>
<inertial>
<origin xyz="-0.0029847892656931978 0.0001692458493246047 -3.58545677040397e-06" rpy="0 0 0" />
<mass value="0.001355945340955129" />
<inertia ixx="6.243282502825549e-09" ixy="-1.882376880637714e-09" ixz="-2.8451864136154683e-12" iyy="1.6087647623407903e-08" iyz="-1.3567055754786004e-12" izz="1.4441663514978044e-08" />
</inertial>
</link>

<joint name="left_ring_finger_pip" type="revolute">
<origin xyz="-0.03849999999999995 0.0 -4.1772141301521515e-15" rpy="-1.2252515792046691e-15 -9.76312062194603e-16 4.3679368832469915e-14" />
<parent link="left_ring_finger_mcp_flexion_2_link" />
<child link="left_ring_finger_pip_link" />
<axis xyz="-9.763120622043147e-16 1.2252515792046168e-15 1.0000000000000004" />
<limit effort="30" velocity="30" lower="0" upper="0.9599310885968813" />

</joint>

<link name="right_middle_finger_pip_2_link">
<visual>
<origin xyz="0.050499999999999934 -2.7755575615628914e-17 0.0" rpy="-1.5707963267948966 -1.5707963267948966 0.0" />
<geometry>
<mesh filename=".//meshes/urdf/obj_combined_hulls/right_middle_finger_pip_2_link.obj" />
</geometry>
</visual>
<collision>
<origin xyz="0.050499999999999934 -2.7755575615628914e-17 0.0" rpy="-1.5707963267948966 -1.5707963267948966 0.0" />
<geometry>
<mesh filename=".//meshes/urdf/obj_combined_hulls/right_middle_finger_pip_2_link.obj" />
</geometry>
</collision>
<inertial>
<origin xyz="-0.006998651016719841 -0.0001709021706498025 -4.597237124358995e-06" rpy="0 0 0" />
<mass value="0.008583915368359746" />
<inertia ixx="1.6902733152684897e-07" ixy="1.0810765845647785e-08" ixz="1.6979113593528276e-10" iyy="3.536501590411394e-07" iyz="-2.5145573497517817e-11" izz="3.0354744604926136e-07" />
</inertial>
</link>

<joint name="right_middle_finger_pip_2" type="continuous">
<origin xyz="-0.0069999999999999785 2.7755575615628914e-17 6.938893903907228e-18" rpy="-9.658940314259014e-15 -1.662736249060541e-14 1.702158107079831e-14" />
<parent link="right_middle_finger_pip_link" />
<child link="right_middle_finger_pip_2_link" />
<axis xyz="-1.662736249060572e-14 9.658940314258744e-15 1.0000000000000089" />
<mimic joint="right_middle_finger_pip" multiplier="1.0" offset="0" />
<limit effort="30" velocity="30" />

</joint>

<link name="right_pinkie_finger_pip_2_link">
<visual>
<origin xyz="0.05049999999999996 -5.551115123125783e-17 0.0" rpy="-1.5707963267948966 -1.5707963267948966 0.0" />
<geometry>
<mesh filename=".//meshes/urdf/obj_combined_hulls/right_pinkie_finger_pip_2_link.obj" />
</geometry>
</visual>
<collision>
<origin xyz="0.05049999999999996 -5.551115123125783e-17 0.0" rpy="-1.5707963267948966 -1.5707963267948966 0.0" />
<geometry>
<mesh filename=".//meshes/urdf/obj_combined_hulls/right_pinkie_finger_pip_2_link.obj" />
</geometry>
</collision>
<inertial>
<origin xyz="-0.006998651016714586 -0.00017090217066062648 -4.597237124852314e-06" rpy="0 0 0" />
<mass value="0.008583915368359748" />
<inertia ixx="1.6902733152710736e-07" ixy="1.0810765846070588e-08" ixz="1.6979113593063312e-10" iyy="3.536501590407653e-07" iyz="-2.514557349728269e-11" izz="3.0354744604914976e-07" />
</inertial>
</link>

<joint name="right_pinkie_finger_pip_2" type="continuous">
<origin xyz="-0.007000000000000006 -2.7755575615628914e-17 0.0" rpy="-5.758578568950262e-26 2.105044001754451e-28 7.15662238388339e-15" />
<parent link="right_pinkie_finger_pip_link" />
<child link="right_pinkie_finger_pip_2_link" />
<axis xyz="2.123250450230173e-28 5.759273065210589e-26 1.0" />
<mimic joint="right_pinkie_finger_pip" multiplier="1.0" offset="0" />
<limit effort="30" velocity="30" />

</joint>

<link name="right_index_finger_pip_2_link">
<visual>
<origin xyz="0.050499999999999934 0.0 0.0" rpy="-1.5707963267948966 -1.5707963267948966 0.0" />
<geometry>
<mesh filename=".//meshes/urdf/obj_combined_hulls/right_index_finger_pip_2_link.obj" />
</geometry>
</visual>
<collision>
<origin xyz="0.050499999999999934 0.0 0.0" rpy="-1.5707963267948966 -1.5707963267948966 0.0" />
<geometry>
<mesh filename=".//meshes/urdf/obj_combined_hulls/right_index_finger_pip_2_link.obj" />
</geometry>
</collision>
<inertial>
<origin xyz="-0.006998651016720324 -0.00017090217064890675 -4.597237124654432e-06" rpy="0 0 0" />
<mass value="0.008583915368359746" />
<inertia ixx="1.6902733152684918e-07" ixy="1.0810765845639629e-08" ixz="1.6979113592997994e-10" iyy="3.5365015904116267e-07" iyz="-2.5145573516566598e-11" izz="3.0354744604927073e-07" />
</inertial>
</link>

<joint name="right_index_finger_pip_2" type="continuous">
<origin xyz="-0.007000000000000006 0.0 -3.469446951953614e-18" rpy="9.603429162981583e-15 1.5925979214644672e-14 1.208910172728418e-14" />
<parent link="right_index_finger_pip_link" />
<child link="right_index_finger_pip_2_link" />
<axis xyz="1.5925979214644653e-14 -9.603429162981397e-15 0.9999999999999911" />
<mimic joint="right_index_finger_pip" multiplier="1.0" offset="0" />
<limit effort="30" velocity="30" />

</joint>

<link name="right_ring_finger_pip_2_link">
<visual>
<origin xyz="0.05049999999999996 -2.7755575615628914e-17 0.0" rpy="-1.5707963267948966 -1.5707963267948966 0.0" />
<geometry>
<mesh filename=".//meshes/urdf/obj_combined_hulls/right_ring_finger_pip_2_link.obj" />
</geometry>
</visual>
<collision>
<origin xyz="0.05049999999999996 -2.7755575615628914e-17 0.0" rpy="-1.5707963267948966 -1.5707963267948966 0.0" />
<geometry>
<mesh filename=".//meshes/urdf/obj_combined_hulls/right_ring_finger_pip_2_link.obj" />
</geometry>
</collision>
<inertial>
<origin xyz="-0.006998651016719726 -0.00017090217064913345 -4.597237124486389e-06" rpy="0 0 0" />
<mass value="0.008583915368359746" />
<inertia ixx="1.6902733152684664e-07" ixy="1.0810765845625664e-08" ixz="1.6979113594287204e-10" iyy="3.536501590411366e-07" iyz="-2.5145573513369338e-11" izz="3.035474460492601e-07" />
</inertial>
</link>

<joint name="right_ring_finger_pip_2" type="continuous">
<origin xyz="-0.007000000000000006 0.0 -6.938893903907228e-18" rpy="-1.530517368343981e-26 -6.123233995715212e-17 1.1978079424886192e-14" />
<parent link="right_ring_finger_pip_link" />
<child link="right_ring_finger_pip_2_link" />
<axis xyz="-6.12323399571521e-17 1.530664028192541e-26 1.0" />
<mimic joint="right_ring_finger_pip" multiplier="1.0" offset="0" />
<limit effort="30" velocity="30" />

</joint>

<link name="right_thumb_mcp_flexion_2_link">
<visual>
<origin xyz="0.020000000000000073 -1.3877787807814457e-17 0.0" rpy="-1.5707963267948966 -1.5707963267948966 0.0" />
<geometry>
<mesh filename=".//meshes/urdf/obj_combined_hulls/right_thumb_mcp_flexion_2_link.obj" />
</geometry>
</visual>
<collision>
<origin xyz="0.020000000000000073 -1.3877787807814457e-17 0.0" rpy="-1.5707963267948966 -1.5707963267948966 0.0" />
<geometry>
<mesh filename=".//meshes/urdf/obj_combined_hulls/right_thumb_mcp_flexion_2_link.obj" />
</geometry>
</collision>
<inertial>
<origin xyz="-0.0140015395704227 -0.001083752575066778 0.0009893031479127317" rpy="0 0 0" />
<mass value="0.020219104467145074" />
<inertia ixx="5.3609630299966e-07" ixy="1.2571078108833194e-07" ixz="-4.8202677355822776e-08" iyy="1.8573644501004077e-06" iyz="-4.617846315001294e-09" izz="1.9503453341749937e-06" />
</inertial>
</link>

<joint name="right_thumb_mcp_flexion_2" type="continuous">
<origin xyz="-0.010000000000000148 5.551115123125783e-17 -1.3877787807814457e-16" rpy="6.522145755114473e-15 2.0395995436792588e-14 -1.1120013257697989e-14" />
<parent link="right_thumb_mcp_flexion_link" />
<child link="right_thumb_mcp_flexion_2_link" />
<axis xyz="2.039599543679279e-14 -6.5221457551130766e-15 1.0000000000000113" />
<mimic joint="right_thumb_mcp_flexion" multiplier="1.0" offset="0" />
<limit effort="30" velocity="30" />

</joint>

<link name="left_thumb_mcp_flexion_2_link">
<visual>
<origin xyz="0.020000000000000073 -1.3877787807814457e-17 0.0" rpy="-1.5707963267948966 -1.5707963267948966 0.0" />
<geometry>
<mesh filename=".//meshes/urdf/obj_combined_hulls/left_thumb_mcp_flexion_2_link.obj" />
</geometry>
</visual>
<collision>
<origin xyz="0.020000000000000073 -1.3877787807814457e-17 0.0" rpy="-1.5707963267948966 -1.5707963267948966 0.0" />
<geometry>
<mesh filename=".//meshes/urdf/obj_combined_hulls/left_thumb_mcp_flexion_2_link.obj" />
</geometry>
</collision>
<inertial>
<origin xyz="-0.014001546183678527 -0.0010837575737929702 -0.0007779312466643468" rpy="0 0 0" />
<mass value="0.02021907524408128" />
<inertia ixx="5.436486419520082e-07" ixy="1.2571052055044268e-07" ixz="2.7845956543120073e-08" iyy="1.8649129978238748e-06" iyz="-1.4917687152876038e-08" izz="1.9503411802931578e-06" />
</inertial>
</link>

<joint name="left_thumb_mcp_flexion_2" type="continuous">
<origin xyz="-0.009999999999999357 8.465450562766819e-16 -4.191091917959966e-15" rpy="-1.457097342871686e-15 1.2236020668789367e-15 -1.0580432349028161e-16" />
<parent link="left_thumb_mcp_flexion_link" />
<child link="left_thumb_mcp_flexion_2_link" />
<axis xyz="1.2236020668789645e-15 1.4570973428717123e-15 1.0000000000000313" />
<mimic joint="left_thumb_mcp_flexion" multiplier="1.0" offset="0" />
<limit effort="30" velocity="30" />

</joint>

<link name="left_middle_finger_pip_2_link">
<visual>
<origin xyz="0.05049999999999999 0.0 6.938893903907228e-18" rpy="-1.5707963267948966 -1.5707963267948966 0.0" />
<geometry>
<mesh filename=".//meshes/urdf/obj_combined_hulls/left_middle_finger_pip_2_link.obj" />
</geometry>
</visual>
<collision>
<origin xyz="0.05049999999999999 0.0 6.938893903907228e-18" rpy="-1.5707963267948966 -1.5707963267948966 0.0" />
<geometry>
<mesh filename=".//meshes/urdf/obj_combined_hulls/left_middle_finger_pip_2_link.obj" />
</geometry>
</collision>
<inertial>
<origin xyz="-0.006998651016722202 -0.00017090217065563482 -4.597237146989101e-06" rpy="0 0 0" />
<mass value="0.008583915368359748" />
<inertia ixx="1.6902733152698814e-07" ixy="1.0810765845891036e-08" ixz="1.6979113582058558e-10" iyy="3.536501590409895e-07" iyz="-2.514557343511955e-11" izz="3.0354744604925405e-07" />
</inertial>
</link>

<joint name="left_middle_finger_pip_2" type="continuous">
<origin xyz="-0.007000000000000006 0.0 0.0" rpy="2.8713674189745045e-24 -6.12323409651856e-17 -4.5116607789941424e-14" />
<parent link="left_middle_finger_pip_link" />
<child link="left_middle_finger_pip_2_link" />
<axis xyz="-6.12323409651856e-17 -2.8713700883063724e-24 1.0000000000000009" />
<mimic joint="left_middle_finger_pip" multiplier="1.0" offset="0" />
<limit effort="30" velocity="30" />

</joint>

<link name="left_pinkie_finger_pip_2_link">
<visual>
<origin xyz="0.05049999999999999 -2.7755575615628914e-17 0.0" rpy="-1.5707963267948966 -1.5707963267948966 0.0" />
<geometry>
<mesh filename=".//meshes/urdf/obj_combined_hulls/left_pinkie_finger_pip_2_link.obj" />
</geometry>
</visual>
<collision>
<origin xyz="0.05049999999999999 -2.7755575615628914e-17 0.0" rpy="-1.5707963267948966 -1.5707963267948966 0.0" />
<geometry>
<mesh filename=".//meshes/urdf/obj_combined_hulls/left_pinkie_finger_pip_2_link.obj" />
</geometry>
</collision>
<inertial>
<origin xyz="-0.006998651016722406 -0.00017090217065560625 -4.597237147022699e-06" rpy="0 0 0" />
<mass value="0.008583915368359746" />
<inertia ixx="1.6902733152698581e-07" ixy="1.0810765845890984e-08" ixz="1.6979113581946026e-10" iyy="3.536501590409906e-07" iyz="-2.514557343605292e-11" izz="3.0354744604925675e-07" />
</inertial>
</link>

<joint name="left_pinkie_finger_pip_2" type="continuous">
<origin xyz="-0.0069999999999999785 0.0 0.0" rpy="1.6800476021322353e-24 -6.123234261954671e-17 -4.207881063275866e-14" />
<parent link="left_pinkie_finger_pip_link" />
<child link="left_pinkie_finger_pip_2_link" />
<axis xyz="-6.12323426195467e-17 -1.680052192426099e-24 1.0000000000000007" />
<mimic joint="left_pinkie_finger_pip" multiplier="1.0" offset="0" />
<limit effort="30" velocity="30" />

</joint>

<link name="left_index_finger_pip_2_link">
<visual>
<origin xyz="0.05049999999999999 0.0 0.0" rpy="-1.5707963267948966 -1.5707963267948966 0.0" />
<geometry>
<mesh filename=".//meshes/urdf/obj_combined_hulls/left_index_finger_pip_2_link.obj" />
</geometry>
</visual>
<collision>
<origin xyz="0.05049999999999999 0.0 0.0" rpy="-1.5707963267948966 -1.5707963267948966 0.0" />
<geometry>
<mesh filename=".//meshes/urdf/obj_combined_hulls/left_index_finger_pip_2_link.obj" />
</geometry>
</collision>
<inertial>
<origin xyz="-0.006998651016718398 -0.00017090217065493946 -4.597237146911776e-06" rpy="0 0 0" />
<mass value="0.008583915368359748" />
<inertia ixx="1.6902733152699476e-07" ixy="1.081076584587938e-08" ixz="1.697911358168629e-10" iyy="3.536501590409595e-07" iyz="-2.51455734549951e-11" izz="3.035474460492195e-07" />
</inertial>
</link>

<joint name="left_index_finger_pip_2" type="continuous">
<origin xyz="-0.006999999999999951 -2.7755575615628914e-17 0.0" rpy="5.105167530527408e-16 -1.1389112050126868e-15 -4.367722303493347e-14" />
<parent link="left_index_finger_pip_link" />
<child link="left_index_finger_pip_2_link" />
<axis xyz="-1.1389112054108758e-15 -5.105167530527205e-16 1.0000000000000355" />
<mimic joint="left_index_finger_pip" multiplier="1.0" offset="0" />
<limit effort="30" velocity="30" />

</joint>

<link name="left_ring_finger_pip_2_link">
<visual>
<origin xyz="0.05049999999999999 0.0 0.0" rpy="-1.5707963267948966 -1.5707963267948966 0.0" />
<geometry>
<mesh filename=".//meshes/urdf/obj_combined_hulls/left_ring_finger_pip_2_link.obj" />
</geometry>
</visual>
<collision>
<origin xyz="0.05049999999999999 0.0 0.0" rpy="-1.5707963267948966 -1.5707963267948966 0.0" />
<geometry>
<mesh filename=".//meshes/urdf/obj_combined_hulls/left_ring_finger_pip_2_link.obj" />
</geometry>
</collision>
<inertial>
<origin xyz="-0.006998651016722346 -0.0001709021706541728 -4.597237146977622e-06" rpy="0 0 0" />
<mass value="0.008583915368359748" />
<inertia ixx="1.6902733152699256e-07" ixy="1.0810765845874773e-08" ixz="1.6979113582832164e-10" iyy="3.5365015904098717e-07" iyz="-2.514557347984257e-11" izz="3.035474460492558e-07" />
</inertial>
</link>

<joint name="left_ring_finger_pip_2" type="continuous">
<origin xyz="-0.006999999999999923 2.7755575615628914e-17 0.0" rpy="-1.0554286607085916e-25 -1.8369701796160783e-16 -4.367722303493524e-14" />
<parent link="left_ring_finger_pip_link" />
<child link="left_ring_finger_pip_2_link" />
<axis xyz="-1.836970179713195e-16 1.0555310594520812e-25 0.9999999999999997" />
<mimic joint="left_ring_finger_pip" multiplier="1.0" offset="0" />
<limit effort="30" velocity="30" />

</joint>

<link name="right_middle_finger_dip_link">
<visual>
<origin xyz="0.0655 0.0 0.0" rpy="-1.5707963267948966 -1.5707963267948966 0.0" />
<geometry>
<mesh filename=".//meshes/urdf/obj_combined_hulls/right_middle_finger_dip_link.obj" />
</geometry>
</visual>
<collision>
<origin xyz="0.0655 0.0 0.0" rpy="-1.5707963267948966 -1.5707963267948966 0.0" />
<geometry>
<mesh filename=".//meshes/urdf/obj_combined_hulls/right_middle_finger_dip_link.obj" />
</geometry>
</collision>
<inertial>
<origin xyz="-0.002021651763259658 0.00028003225702250863 -4.773922732104691e-06" rpy="0 0 0" />
<mass value="0.0009634174877579615" />
<inertia ixx="4.414391066839755e-09" ixy="-9.230109813476016e-10" ixz="-2.199237518566974e-12" iyy="9.447112023641094e-09" iyz="-1.286533690563166e-12" izz="6.936467962084979e-09" />
</inertial>
</link>

<joint name="right_middle_finger_dip" type="continuous">
<origin xyz="-0.015000000000000041 -2.7755575615628914e-17 -6.938893903907228e-18" rpy="9.769962616719913e-15 -6.123233995746799e-17 -6.331460571747394e-30" />
<parent link="right_middle_finger_pip_2_link" />
<child link="right_middle_finger_dip_link" />
<axis xyz="-6.123233995746757e-17 -9.769962616719993e-15 0.9999999999999913" />
<mimic joint="right_middle_finger_pip" multiplier="0.7727272727272727" offset="0" />
<limit effort="30" velocity="30" />

</joint>

<link name="right_pinkie_finger_dip_link">
<visual>
<origin xyz="0.06550000000000006 -2.7755575615628914e-17 1.3877787807814457e-17" rpy="-1.5707963267948966 -1.5707963267948966 0.0" />
<geometry>
<mesh filename=".//meshes/urdf/obj_combined_hulls/right_pinkie_finger_dip_link.obj" />
</geometry>
</visual>
<collision>
<origin xyz="0.06550000000000006 -2.7755575615628914e-17 1.3877787807814457e-17" rpy="-1.5707963267948966 -1.5707963267948966 0.0" />
<geometry>
<mesh filename=".//meshes/urdf/obj_combined_hulls/right_pinkie_finger_dip_link.obj" />
</geometry>
</collision>
<inertial>
<origin xyz="-0.0020216517632595946 0.000280032257022477 -4.773922732088907e-06" rpy="0 0 0" />
<mass value="0.0009634174877579615" />
<inertia ixx="4.4143910668399725e-09" ixy="-9.230109813476211e-10" ixz="-2.1992375186062174e-12" iyy="9.447112023641007e-09" iyz="-1.2865336905413903e-12" izz="6.936467962084939e-09" />
</inertial>
</link>

<joint name="right_pinkie_finger_dip" type="continuous">
<origin xyz="-0.015000000000000069 -5.551115123125783e-17 0.0" rpy="5.771412421759759e-26 -6.123233995733062e-17 6.980435495936982e-27" />
<parent link="right_pinkie_finger_pip_2_link" />
<child link="right_pinkie_finger_dip_link" />
<axis xyz="-6.123233995732881e-17 -5.770172532962143e-26 1.0" />
<mimic joint="right_pinkie_finger_pip" multiplier="0.7727272727272727" offset="0" />
<limit effort="30" velocity="30" />

</joint>

<link name="right_index_finger_dip_link">
<visual>
<origin xyz="0.06550000000000006 0.0 -3.469446951953614e-18" rpy="-1.5707963267948966 -1.5707963267948966 0.0" />
<geometry>
<mesh filename=".//meshes/urdf/obj_combined_hulls/right_index_finger_dip_link.obj" />
</geometry>
</visual>
<collision>
<origin xyz="0.06550000000000006 0.0 -3.469446951953614e-18" rpy="-1.5707963267948966 -1.5707963267948966 0.0" />
<geometry>
<mesh filename=".//meshes/urdf/obj_combined_hulls/right_index_finger_dip_link.obj" />
</geometry>
</collision>
<inertial>
<origin xyz="-0.0020216517632596024 0.0002800322570225086 -4.773922732108646e-06" rpy="0 0 0" />
<mass value="0.0009634174877579615" />
<inertia ixx="4.414391066839753e-09" ixy="-9.23010981347601e-10" ixz="-2.199237518567885e-12" iyy="9.44711202364109e-09" iyz="-1.2865336905628126e-12" izz="6.936467962084979e-09" />
</inertial>
</link>

<joint name="right_index_finger_dip" type="continuous">
<origin xyz="-0.015000000000000152 0.0 6.938893903907228e-18" rpy="-9.603429162981742e-15 -1.6516340188144223e-14 2.5243548967073633e-29" />
<parent link="right_index_finger_pip_2_link" />
<child link="right_index_finger_dip_link" />
<axis xyz="-1.651634018814437e-14 9.603429162981744e-15 1.0000000000000089" />
<mimic joint="right_index_finger_pip" multiplier="0.7727272727272727" offset="0" />
<limit effort="30" velocity="30" />

</joint>

<link name="right_ring_finger_dip_link">
<visual>
<origin xyz="0.06550000000000003 0.0 0.0" rpy="-1.5707963267948966 -1.5707963267948966 0.0" />
<geometry>
<mesh filename=".//meshes/urdf/obj_combined_hulls/right_ring_finger_dip_link.obj" />
</geometry>
</visual>
<collision>
<origin xyz="0.06550000000000003 0.0 0.0" rpy="-1.5707963267948966 -1.5707963267948966 0.0" />
<geometry>
<mesh filename=".//meshes/urdf/obj_combined_hulls/right_ring_finger_dip_link.obj" />
</geometry>
</collision>
<inertial>
<origin xyz="-0.002021651763259638 0.0002800322570225086 -4.773922732104647e-06" rpy="0 0 0" />
<mass value="0.0009634174877579615" />
<inertia ixx="4.4143910668395365e-09" ixy="-9.230109813475915e-10" ixz="-2.1992375185304322e-12" iyy="9.447112023641137e-09" iyz="-1.2865336905833713e-12" izz="6.936467962084985e-09" />
</inertial>
</link>

<joint name="right_ring_finger_dip" type="continuous">
<origin xyz="-0.015000000000000097 -2.7755575615628914e-17 0.0" rpy="9.492406860546969e-15 -6.12323399572665e-17 -5.143047488740217e-30" />
<parent link="right_ring_finger_pip_2_link" />
<child link="right_ring_finger_dip_link" />
<axis xyz="-6.123233995726749e-17 -9.492406860547042e-15 0.9999999999999911" />
<mimic joint="right_ring_finger_pip" multiplier="0.7727272727272727" offset="0" />
<limit effort="30" velocity="30" />

</joint>

<link name="right_thumb_dip_link">
<visual>
<origin xyz="0.04808854433117703 1.3877787807814457e-17 0.0" rpy="-1.5707963267948966 -1.5707963267948966 0.0" />
<geometry>
<mesh filename=".//meshes/urdf/obj_combined_hulls/right_thumb_dip_link.obj" />
</geometry>
</visual>
<collision>
<origin xyz="0.04808854433117703 1.3877787807814457e-17 0.0" rpy="-1.5707963267948966 -1.5707963267948966 0.0" />
<geometry>
<mesh filename=".//meshes/urdf/obj_combined_hulls/right_thumb_dip_link.obj" />
</geometry>
</collision>
<inertial>
<origin xyz="-0.0029634443099262565 0.0013916529212620117 -5.9929333125712115e-06" rpy="0 0 0" />
<mass value="0.0027238010005492023" />
<inertia ixx="2.174842462772807e-08" ixy="1.9296433345440833e-09" ixz="4.190312584288959e-11" iyy="3.303405207007644e-08" iyz="-3.834380579451865e-11" izz="4.1391392884038595e-08" />
</inertial>
</link>

<joint name="right_thumb_dip" type="revolute">
<origin xyz="-0.028088544331176954 -2.7755575615628914e-17 5.717648576819556e-14" rpy="-6.9817158537839245e-15 -1.8622697724577205e-14 3.33146031195445e-15" />
<parent link="right_thumb_mcp_flexion_2_link" />
<child link="right_thumb_dip_link" />
<axis xyz="-1.8622697724577442e-14 6.981715853785225e-15 1.0000000000000149" />
<limit effort="30" velocity="30" lower="0" upper="0.7853981633974483" />

</joint>

<link name="left_thumb_dip_link">
<visual>
<origin xyz="0.048088544331176986 2.7755575615628914e-17 0.0" rpy="-1.5707963267948966 -1.5707963267948966 0.0" />
<geometry>
<mesh filename=".//meshes/urdf/obj_combined_hulls/left_thumb_dip_link.obj" />
</geometry>
</visual>
<collision>
<origin xyz="0.048088544331176986 2.7755575615628914e-17 0.0" rpy="-1.5707963267948966 -1.5707963267948966 0.0" />
<geometry>
<mesh filename=".//meshes/urdf/obj_combined_hulls/left_thumb_dip_link.obj" />
</geometry>
</collision>
<inertial>
<origin xyz="-0.002963444309926285 0.001391652849145585 5.992933312595507e-06" rpy="0 0 0" />
<mass value="0.0027238010005492023" />
<inertia ixx="2.1748423703876306e-08" ixy="1.9296442212228618e-09" ixz="-4.190312584298141e-11" iyy="3.303405207007674e-08" iyz="3.833356848915667e-11" izz="4.1391391960186986e-08" />
</inertial>
</link>

<joint name="left_thumb_dip" type="revolute">
<origin xyz="-0.02808854433116932 6.827871601444713e-15 6.342149028171207e-14" rpy="5.425604762308508e-17 1.0979237696911871e-16 1.699711882676685e-15" />
<parent link="left_thumb_mcp_flexion_2_link" />
<child link="left_thumb_dip_link" />
<axis xyz="1.0979237696913305e-16 -5.425604762307121e-17 1.0" />
<limit effort="30" velocity="30" lower="0" upper="0.7853981633974483" />

</joint>

<link name="left_middle_finger_dip_link">
<visual>
<origin xyz="0.06549999999999997 0.0 -6.938893903907228e-18" rpy="-1.5707963267948966 -1.5707963267948966 0.0" />
<geometry>
<mesh filename=".//meshes/urdf/obj_combined_hulls/left_middle_finger_dip_link.obj" />
</geometry>
</visual>
<collision>
<origin xyz="0.06549999999999997 0.0 -6.938893903907228e-18" rpy="-1.5707963267948966 -1.5707963267948966 0.0" />
<geometry>
<mesh filename=".//meshes/urdf/obj_combined_hulls/left_middle_finger_dip_link.obj" />
</geometry>
</collision>
<inertial>
<origin xyz="-0.0020216517632596857 0.0002800322570225008 -4.7739227321097755e-06" rpy="0 0 0" />
<mass value="0.0009634174877579615" />
<inertia ixx="4.414391066839808e-09" ixy="-9.230109813476194e-10" ixz="-2.1992375185656427e-12" iyy="9.447112023641189e-09" iyz="-1.2865336905623732e-12" izz="6.9364679620849494e-09" />
</inertial>
</link>

<joint name="left_middle_finger_dip" type="continuous">
<origin xyz="-0.015000000000000041 0.0 0.0" rpy="-1.684741136233002e-24 -6.123233932053594e-17 0.0" />
<parent link="left_middle_finger_pip_2_link" />
<child link="left_middle_finger_dip_link" />
<axis xyz="-6.12323393302475e-17 1.6847309716105744e-24 0.9999999999999997" />
<mimic joint="left_middle_finger_pip" multiplier="0.7727272727272727" offset="0" />
<limit effort="30" velocity="30" />

</joint>

<link name="left_pinkie_finger_dip_link">
<visual>
<origin xyz="0.06550000000000009 0.0 0.0" rpy="-1.5707963267948966 -1.5707963267948966 0.0" />
<geometry>
<mesh filename=".//meshes/urdf/obj_combined_hulls/left_pinkie_finger_dip_link.obj" />
</geometry>
</visual>
<collision>
<origin xyz="0.06550000000000009 0.0 0.0" rpy="-1.5707963267948966 -1.5707963267948966 0.0" />
<geometry>
<mesh filename=".//meshes/urdf/obj_combined_hulls/left_pinkie_finger_dip_link.obj" />
</geometry>
</collision>
<inertial>
<origin xyz="-0.0020216517632595725 0.00028003225702250467 -4.773922732104828e-06" rpy="0 0 0" />
<mass value="0.0009634174877579615" />
<inertia ixx="4.414391066839831e-09" ixy="-9.23010981347608e-10" ixz="-2.1992375185667656e-12" iyy="9.44711202364131e-09" iyz="-1.2865336905632072e-12" izz="6.9364679620849966e-09" />
</inertial>
</link>

<joint name="left_pinkie_finger_dip" type="continuous">
<origin xyz="-0.015000000000000041 -2.7755575615628914e-17 0.0" rpy="-1.406210185215964e-27 9.711686698029658e-27 2.5964396935292e-30" />
<parent link="left_pinkie_finger_pip_2_link" />
<child link="left_pinkie_finger_dip_link" />
<axis xyz="-9.711686698029657e-27 1.3958240222690845e-27 1.0" />
<mimic joint="left_pinkie_finger_pip" multiplier="0.7727272727272727" offset="0" />
<limit effort="30" velocity="30" />

</joint>

<link name="left_index_finger_dip_link">
<visual>
<origin xyz="0.06550000000000006 -2.7755575615628914e-17 -3.469446951953614e-18" rpy="-1.5707963267948966 -1.5707963267948966 0.0" />
<geometry>
<mesh filename=".//meshes/urdf/obj_combined_hulls/left_index_finger_dip_link.obj" />
</geometry>
</visual>
<collision>
<origin xyz="0.06550000000000006 -2.7755575615628914e-17 -3.469446951953614e-18" rpy="-1.5707963267948966 -1.5707963267948966 0.0" />
<geometry>
<mesh filename=".//meshes/urdf/obj_combined_hulls/left_index_finger_dip_link.obj" />
</geometry>
</collision>
<inertial>
<origin xyz="-0.0020216517632596098 0.000280032257022477 -4.773922732107615e-06" rpy="0 0 0" />
<mass value="0.0009634174877579615" />
<inertia ixx="4.414391066839678e-09" ixy="-9.230109813476771e-10" ixz="-2.1992375185648664e-12" iyy="9.447112023640979e-09" iyz="-1.2865336905682577e-12" izz="6.936467962085024e-09" />
</inertial>
</link>

<joint name="left_index_finger_dip" type="continuous">
<origin xyz="-0.015000000000000069 0.0 0.0" rpy="2.6034025699978705e-15 -4.2719428485332237e-16 1.1941335560600071e-29" />
<parent link="left_index_finger_pip_2_link" />
<child link="left_index_finger_dip_link" />
<axis xyz="-4.27194284076395e-16 -2.603402569997765e-15 0.9999999999999875" />
<mimic joint="left_index_finger_pip" multiplier="0.7727272727272727" offset="0" />
<limit effort="30" velocity="30" />

</joint>

<link name="left_ring_finger_dip_link">
<visual>
<origin xyz="0.06550000000000006 0.0 6.938893903907228e-18" rpy="-1.5707963267948966 -1.5707963267948966 0.0" />
<geometry>
<mesh filename=".//meshes/urdf/obj_combined_hulls/left_ring_finger_dip_link.obj" />
</geometry>
</visual>
<collision>
<origin xyz="0.06550000000000006 0.0 6.938893903907228e-18" rpy="-1.5707963267948966 -1.5707963267948966 0.0" />
<geometry>
<mesh filename=".//meshes/urdf/obj_combined_hulls/left_ring_finger_dip_link.obj" />
</geometry>
</collision>
<inertial>
<origin xyz="-0.0020216517632596024 0.0002800322570225086 -4.773922732097749e-06" rpy="0 0 0" />
<mass value="0.0009634174877579615" />
<inertia ixx="4.414391066839753e-09" ixy="-9.23010981347619e-10" ixz="-2.1992375185664877e-12" iyy="9.44711202364109e-09" iyz="-1.2865336905626807e-12" izz="6.936467962084979e-09" />
</inertial>
</link>

<joint name="left_ring_finger_dip" type="continuous">
<origin xyz="-0.015000000000000069 0.0 -1.3877787807814457e-17" rpy="-4.4835318395069555e-26 -1.2246467864107189e-16 0.0" />
<parent link="left_ring_finger_pip_2_link" />
<child link="left_ring_finger_dip_link" />
<axis xyz="-1.2246467864107189e-16 4.483856974909647e-26 1.0" />
<mimic joint="left_ring_finger_pip" multiplier="0.7727272727272727" offset="0" />
<limit effort="30" velocity="30" />

</joint>

<link name="right_middle_finger_dip_2_link">
<visual>
<origin xyz="0.07050000000000009 0.0 0.0" rpy="-1.5707963267948966 -1.5707963267948966 0.0" />
<geometry>
<mesh filename=".//meshes/urdf/obj_combined_hulls/right_middle_finger_dip_2_link.obj" />
</geometry>
</visual>
<collision>
<origin xyz="0.07050000000000009 0.0 0.0" rpy="-1.5707963267948966 -1.5707963267948966 0.0" />
<geometry>
<mesh filename=".//meshes/urdf/obj_combined_hulls/right_middle_finger_dip_2_link.obj" />
</geometry>
</collision>
<inertial>
<origin xyz="-0.006998629676404749 -2.149600260239774e-05 2.8862154116492625e-05" rpy="0 0 0" />
<mass value="0.005736094286194946" />
<inertia ixx="1.3944457847193885e-07" ixy="8.01184788535915e-09" ixz="2.0426282897105698e-10" iyy="2.429446874342036e-07" iyz="-9.319543682708947e-11" izz="1.79367878032205e-07" />
</inertial>
</link>

<joint name="right_middle_finger_dip_2" type="continuous">
<origin xyz="-0.00500000000000006 2.7755575615628914e-17 0.0" rpy="-5.551115126444608e-17 5.551115123046815e-17 6.884520453176422e-30" />
<parent link="right_middle_finger_dip_link" />
<child link="right_middle_finger_dip_2_link" />
<axis xyz="5.551115123046799e-17 5.551115126445574e-17 1.0" />
<mimic joint="right_middle_finger_dip" multiplier="1.0" offset="0" />
<limit effort="30" velocity="30" />

</joint>

<link name="right_middle_finger_tracker_link" />

<joint name="right_middle_finger_tracker" type="fixed">
<origin xyz="-0.015749999999999195 0.0011925164027886224 1.623000709810453e-14" rpy="1.5707963267949028 1.110223024626699e-15 -3.1415926535897833" />
<parent link="right_middle_finger_dip_2_link" />
<child link="right_middle_finger_tracker_link" />
</joint>

<link name="right_pinkie_finger_dip_2_link">
<visual>
<origin xyz="0.07050000000000003 -2.7755575615628914e-17 0.0" rpy="-1.5707963267948966 -1.5707963267948966 0.0" />
<geometry>
<mesh filename=".//meshes/urdf/obj_combined_hulls/right_pinkie_finger_dip_2_link.obj" />
</geometry>
</visual>
<collision>
<origin xyz="0.07050000000000003 -2.7755575615628914e-17 0.0" rpy="-1.5707963267948966 -1.5707963267948966 0.0" />
<geometry>
<mesh filename=".//meshes/urdf/obj_combined_hulls/right_pinkie_finger_dip_2_link.obj" />
</geometry>
</collision>
<inertial>
<origin xyz="-0.00699862967640467 -2.149600260301248e-05 2.8862154116205226e-05" rpy="0 0 0" />
<mass value="0.005736094286194946" />
<inertia ixx="1.3944457847193943e-07" ixy="8.0118478853596e-09" ixz="2.0426282896926853e-10" iyy="2.42944687434198e-07" iyz="-9.319543682568256e-11" izz="1.7936787803220004e-07" />
</inertial>
</link>

<joint name="right_pinkie_finger_dip_2" type="continuous">
<origin xyz="-0.004999999999999893 -2.7755575615628914e-17 1.3877787807814457e-17" rpy="-5.77269688785885e-26 -8.96726113051673e-31 -7.004490631821117e-27" />
<parent link="right_pinkie_finger_dip_link" />
<child link="right_pinkie_finger_dip_2_link" />
<axis xyz="8.96726113051673e-31 5.773702409679772e-26 1.0" />
<mimic joint="right_pinkie_finger_dip" multiplier="1.0" offset="0" />
<limit effort="30" velocity="30" />

</joint>

<link name="right_pinkie_finger_tracker_link" />

<joint name="right_pinkie_finger_tracker" type="fixed">
<origin xyz="-0.015749999999999514 0.0011925164027670355 8.636184132061725e-15" rpy="1.5707963267948994 3.019387618668942e-16 -3.1415926535897887" />
<parent link="right_pinkie_finger_dip_2_link" />
<child link="right_pinkie_finger_tracker_link" />
</joint>

<link name="right_index_finger_dip_2_link">
<visual>
<origin xyz="0.07050000000000003 -2.7755575615628914e-17 -3.469446951953614e-18" rpy="-1.5707963267948966 -1.5707963267948966 0.0" />
<geometry>
<mesh filename=".//meshes/urdf/obj_combined_hulls/right_index_finger_dip_2_link.obj" />
</geometry>
</visual>
<collision>
<origin xyz="0.07050000000000003 -2.7755575615628914e-17 -3.469446951953614e-18" rpy="-1.5707963267948966 -1.5707963267948966 0.0" />
<geometry>
<mesh filename=".//meshes/urdf/obj_combined_hulls/right_index_finger_dip_2_link.obj" />
</geometry>
</collision>
<inertial>
<origin xyz="-0.006998629676404726 -2.1496002603038023e-05 2.8862154116251617e-05" rpy="0 0 0" />
<mass value="0.005736094286194947" />
<inertia ixx="1.394445784719413e-07" ixy="8.011847885359759e-09" ixz="2.0426282896979583e-10" iyy="2.4294468743419993e-07" iyz="-9.319543682497752e-11" izz="1.7936787803219967e-07" />
</inertial>
</link>

<joint name="right_index_finger_dip_2" type="continuous">
<origin xyz="-0.004999999999999949 2.7755575615628914e-17 -6.938893903907228e-18" rpy="-1.4764317014550414e-26 -2.376207666221599e-30 1.2027567942068819e-29" />
<parent link="right_index_finger_dip_link" />
<child link="right_index_finger_dip_2_link" />
<axis xyz="-3.1554436208840472e-30 1.4771801533813676e-26 1.0" />
<mimic joint="right_index_finger_dip" multiplier="1.0" offset="0" />
<limit effort="30" velocity="30" />

</joint>

<link name="right_index_finger_tracker_link" />

<joint name="right_index_finger_tracker" type="fixed">
<origin xyz="-0.015749999999999792 0.001192516402767687 8.79819070450841e-15" rpy="1.5707963267948997 -5.321979818863501e-16 3.141592653589784" />
<parent link="right_index_finger_dip_2_link" />
<child link="right_index_finger_tracker_link" />
</joint>

<link name="right_ring_finger_dip_2_link">
<visual>
<origin xyz="0.07050000000000006 -2.7755575615628914e-17 0.0" rpy="-1.5707963267948966 -1.5707963267948966 0.0" />
<geometry>
<mesh filename=".//meshes/urdf/obj_combined_hulls/right_ring_finger_dip_2_link.obj" />
</geometry>
</visual>
<collision>
<origin xyz="0.07050000000000006 -2.7755575615628914e-17 0.0" rpy="-1.5707963267948966 -1.5707963267948966 0.0" />
<geometry>
<mesh filename=".//meshes/urdf/obj_combined_hulls/right_ring_finger_dip_2_link.obj" />
</geometry>
</collision>
<inertial>
<origin xyz="-0.006998629676404468 -2.1496002603539944e-05 2.886215411645001e-05" rpy="0 0 0" />
<mass value="0.005736094286194946" />
<inertia ixx="1.3944457847193925e-07" ixy="8.011847885363838e-09" ixz="2.0426282896587893e-10" iyy="2.4294468743420136e-07" iyz="-9.319543680352884e-11" izz="1.79367878032201e-07" />
</inertial>
</link>

<joint name="right_ring_finger_dip_2" type="continuous">
<origin xyz="-0.0050000000000000044 2.7755575615628914e-17 0.0" rpy="-9.492406860552695e-15 -1.656613015065536e-14 -1.202756794206974e-29" />
<parent link="right_ring_finger_dip_link" />
<child link="right_ring_finger_dip_2_link" />
<axis xyz="-1.656613015065551e-14 9.492406860552707e-15 1.0000000000000089" />
<mimic joint="right_ring_finger_dip" multiplier="1.0" offset="0" />
<limit effort="30" velocity="30" />

</joint>

<link name="right_ring_finger_tracker_link" />

<joint name="right_ring_finger_tracker" type="fixed">
<origin xyz="-0.015749999999999098 0.0011925164027893852 1.6760499234782822e-14" rpy="1.5707963267948992 3.2040828946153195e-16 -3.141592653589788" />
<parent link="right_ring_finger_dip_2_link" />
<child link="right_ring_finger_tracker_link" />
</joint>

<link name="right_thumb_dip_2_link">
<visual>
<origin xyz="0.05608854433117699 -2.7755575615628914e-17 -2.7755575615628914e-17" rpy="-1.5707963267948968 -1.5707963267948966 0.0" />
<geometry>
<mesh filename=".//meshes/urdf/obj_combined_hulls/right_thumb_dip_2_link.obj" />
</geometry>
</visual>
<collision>
<origin xyz="0.05608854433117699 -2.7755575615628914e-17 -2.7755575615628914e-17" rpy="-1.5707963267948968 -1.5707963267948966 0.0" />
<geometry>
<mesh filename=".//meshes/urdf/obj_combined_hulls/right_thumb_dip_2_link.obj" />
</geometry>
</collision>
<inertial>
<origin xyz="-0.006872504825820687 0.0010424459892332946 0.0008622868722163027" rpy="0 0 0" />
<mass value="0.010698059398006428" />
<inertia ixx="2.603243187835652e-07" ixy="2.3143501022511388e-08" ixz="-1.2568739622615048e-08" iyy="4.413907145761324e-07" iyz="-3.0311811512693147e-09" izz="4.1902594453781596e-07" />
</inertial>
</link>

<joint name="right_thumb_dip_2" type="continuous">
<origin xyz="-0.007999999999999924 4.163336342344337e-17 2.7755575615628914e-17" rpy="7.123370024798734e-15 1.8132568235681083e-14 -3.307460981530759e-15" />
<parent link="right_thumb_dip_link" />
<child link="right_thumb_dip_2_link" />
<axis xyz="1.8132568235680787e-14 -7.123370024797468e-15 0.9999999999999851" />
<mimic joint="right_thumb_dip" multiplier="1.0" offset="0" />
<limit effort="30" velocity="30" />

</joint>

<link name="right_thumb_tracker_link" />

<joint name="right_thumb_tracker" type="fixed">
<origin xyz="-0.016199999999962786 0.002251713602631571 0.00016278731337560963" rpy="-3.141592653589774 1.4520251919855436e-14 3.1415926535897887" />
<parent link="right_thumb_dip_2_link" />
<child link="right_thumb_tracker_link" />
</joint>

<link name="left_thumb_dip_2_link">
<visual>
<origin xyz="0.05608854433117698 -1.3877787807814457e-17 -2.7755575615628914e-17" rpy="-1.5707963267948966 -1.5707963267948966 0.0" />
<geometry>
<mesh filename=".//meshes/urdf/obj_combined_hulls/left_thumb_dip_2_link.obj" />
</geometry>
</visual>
<collision>
<origin xyz="0.05608854433117698 -1.3877787807814457e-17 -2.7755575615628914e-17" rpy="-1.5707963267948966 -1.5707963267948966 0.0" />
<geometry>
<mesh filename=".//meshes/urdf/obj_combined_hulls/left_thumb_dip_2_link.obj" />
</geometry>
</collision>
<inertial>
<origin xyz="-0.006872503714559624 0.0010424429278638792 -0.0008631096378677558" rpy="0 0 0" />
<mass value="0.010698061622632803" />
<inertia ixx="2.603090665755908e-07" ixy="2.314344679957409e-08" ixz="1.2584958074853828e-08" iyy="4.4137565066271386e-07" iyz="3.0113442443291493e-09" izz="4.1902597074168725e-07" />
</inertial>
</link>

<joint name="left_thumb_dip_2" type="continuous">
<origin xyz="-0.00799999999999998 5.551115123125783e-17 8.326672684688674e-17" rpy="6.921263205508811e-17 -2.899766599755909e-16 -1.6610201180379216e-15" />
<parent link="left_thumb_dip_link" />
<child link="left_thumb_dip_2_link" />
<axis xyz="-2.899766599755815e-16 -6.921263205508229e-17 1.0" />
<mimic joint="left_thumb_dip" multiplier="1.0" offset="0" />
<limit effort="30" velocity="30" />

</joint>

<link name="left_thumb_tracker_link" />

<joint name="left_thumb_tracker" type="fixed">
<origin xyz="-0.016200000000144696 0.0022517136026238313 -0.0001627873138541483" rpy="1.9317880628477762e-14 1.3816555467856628e-14 3.1415926535897882" />
<parent link="left_thumb_dip_2_link" />
<child link="left_thumb_tracker_link" />
</joint>

<link name="left_middle_finger_dip_2_link">
<visual>
<origin xyz="0.07050000000000003 0.0 0.0" rpy="-1.5707963267948966 -1.5707963267948966 0.0" />
<geometry>
<mesh filename=".//meshes/urdf/obj_combined_hulls/left_middle_finger_dip_2_link.obj" />
</geometry>
</visual>
<collision>
<origin xyz="0.07050000000000003 0.0 0.0" rpy="-1.5707963267948966 -1.5707963267948966 0.0" />
<geometry>
<mesh filename=".//meshes/urdf/obj_combined_hulls/left_middle_finger_dip_2_link.obj" />
</geometry>
</collision>
<inertial>
<origin xyz="-0.00699862967640482 -2.1496002602477626e-05 2.8862154115840548e-05" rpy="0 0 0" />
<mass value="0.005736094286194947" />
<inertia ixx="1.394445784719402e-07" ixy="8.0118478853594e-09" ixz="2.042628289693355e-10" iyy="2.4294468743419315e-07" iyz="-9.319543682493928e-11" izz="1.793678780322002e-07" />
</inertial>
</link>

<joint name="left_middle_finger_dip_2" type="continuous">
<origin xyz="-0.0050000000000000044 0.0 0.0" rpy="-2.681375073955149e-16 6.123233882524567e-17 5.181253153811283e-30" />
<parent link="left_middle_finger_dip_link" />
<child link="left_middle_finger_dip_2_link" />
<axis xyz="6.123233932053594e-17 2.6813750739548264e-16 0.9999999999999806" />
<mimic joint="left_middle_finger_dip" multiplier="1.0" offset="0" />
<limit effort="30" velocity="30" />

</joint>

<link name="left_middle_finger_tracker_link" />

<joint name="left_middle_finger_tracker" type="fixed">
<origin xyz="-0.015750000000004316 0.001192516402784849 -5.286102355251794e-15" rpy="1.570796326794903 1.332267630055189e-15 -3.141592653589781" />
<parent link="left_middle_finger_dip_2_link" />
<child link="left_middle_finger_tracker_link" />
</joint>

<link name="left_pinkie_finger_dip_2_link">
<visual>
<origin xyz="0.07050000000000012 0.0 0.0" rpy="-1.5707963267948966 -1.5707963267948966 0.0" />
<geometry>
<mesh filename=".//meshes/urdf/obj_combined_hulls/left_pinkie_finger_dip_2_link.obj" />
</geometry>
</visual>
<collision>
<origin xyz="0.07050000000000012 0.0 0.0" rpy="-1.5707963267948966 -1.5707963267948966 0.0" />
<geometry>
<mesh filename=".//meshes/urdf/obj_combined_hulls/left_pinkie_finger_dip_2_link.obj" />
</geometry>
</collision>
<inertial>
<origin xyz="-0.006998629676404673 -2.1496002602482204e-05 2.8862154115830973e-05" rpy="0 0 0" />
<mass value="0.005736094286194947" />
<inertia ixx="1.394445784719424e-07" ixy="8.011847885359641e-09" ixz="2.042628289687452e-10" iyy="2.4294468743419855e-07" iyz="-9.319543682461417e-11" izz="1.7936787803220335e-07" />
</inertial>
</link>

<joint name="left_pinkie_finger_dip_2" type="continuous">
<origin xyz="-0.004999999999999949 0.0 0.0" rpy="1.4589305181675693e-27 9.711686698029658e-27 2.5964396935292e-30" />
<parent link="left_pinkie_finger_dip_link" />
<child link="left_pinkie_finger_dip_2_link" />
<axis xyz="-9.711686698029657e-27 -1.469319057633645e-27 1.0" />
<mimic joint="left_pinkie_finger_dip" multiplier="1.0" offset="0" />
<limit effort="30" velocity="30" />

</joint>

<link name="left_pinkie_finger_tracker_link" />

<joint name="left_pinkie_finger_tracker" type="fixed">
<origin xyz="-0.01575000000000426 0.001192516402785576 -5.253087985571413e-15" rpy="1.5707963267948986 9.318143328023503e-16 -3.141592653589786" />
<parent link="left_pinkie_finger_dip_2_link" />
<child link="left_pinkie_finger_tracker_link" />
</joint>

<link name="left_index_finger_dip_2_link">
<visual>
<origin xyz="0.07049999999999998 0.0 0.0" rpy="-1.5707963267948966 -1.5707963267948966 0.0" />
<geometry>
<mesh filename=".//meshes/urdf/obj_combined_hulls/left_index_finger_dip_2_link.obj" />
</geometry>
</visual>
<collision>
<origin xyz="0.07049999999999998 0.0 0.0" rpy="-1.5707963267948966 -1.5707963267948966 0.0" />
<geometry>
<mesh filename=".//meshes/urdf/obj_combined_hulls/left_index_finger_dip_2_link.obj" />
</geometry>
</collision>
<inertial>
<origin xyz="-0.006998629676404934 -2.149600260250184e-05 2.886215411589962e-05" rpy="0 0 0" />
<mass value="0.005736094286194947" />
<inertia ixx="1.394445784719409e-07" ixy="8.011847885360313e-09" ixz="2.042628289695063e-10" iyy="2.4294468743419437e-07" iyz="-9.319543682360825e-11" izz="1.79367878032203e-07" />
</inertial>
</link>

<joint name="left_index_finger_dip_2" type="continuous">
<origin xyz="-0.0050000000000000044 -2.7755575615628914e-17 0.0" rpy="-5.003879913543157e-15 -1.6245699190072131e-15 -1.0897643917195043e-29" />
<parent link="left_index_finger_dip_link" />
<child link="left_index_finger_dip_2_link" />
<axis xyz="-1.6245699175116543e-15 5.0038799135431226e-15 1.000000000000019" />
<mimic joint="left_index_finger_dip" multiplier="1.0" offset="0" />
<limit effort="30" velocity="30" />

</joint>

<link name="left_index_finger_tracker_link" />

<joint name="left_index_finger_tracker" type="fixed">
<origin xyz="-0.015750000000005107 0.001192516402786633 -4.5173707941162156e-15" rpy="1.5707963267948983 7.810526325116006e-18 3.141592653589787" />
<parent link="left_index_finger_dip_2_link" />
<child link="left_index_finger_tracker_link" />
</joint>

<link name="left_ring_finger_dip_2_link">
<visual>
<origin xyz="0.07050000000000009 2.7755575615628914e-17 0.0" rpy="-1.5707963267948966 -1.5707963267948966 0.0" />
<geometry>
<mesh filename=".//meshes/urdf/obj_combined_hulls/left_ring_finger_dip_2_link.obj" />
</geometry>
</visual>
<collision>
<origin xyz="0.07050000000000009 2.7755575615628914e-17 0.0" rpy="-1.5707963267948966 -1.5707963267948966 0.0" />
<geometry>
<mesh filename=".//meshes/urdf/obj_combined_hulls/left_ring_finger_dip_2_link.obj" />
</geometry>
</collision>
<inertial>
<origin xyz="-0.006998629676404594 -2.1496002602568445e-05 2.8862154115885407e-05" rpy="0 0 0" />
<mass value="0.005736094286194946" />
<inertia ixx="1.3944457847194388e-07" ixy="8.011847885360038e-09" ixz="2.0426282896671402e-10" iyy="2.4294468743420146e-07" iyz="-9.319543682251815e-11" izz="1.7936787803220382e-07" />
</inertial>
</link>

<joint name="left_ring_finger_dip_2" type="continuous">
<origin xyz="-0.004999999999999949 0.0 6.938893903907228e-18" rpy="1.5170885145653109e-25 6.123234098460882e-17 -2.3365255970354835e-29" />
<parent link="left_ring_finger_dip_link" />
<child link="left_ring_finger_dip_2_link" />
<axis xyz="6.123234097489717e-17 -1.5171032628849218e-25 1.0000000000000004" />
<mimic joint="left_ring_finger_dip" multiplier="1.0" offset="0" />
<limit effort="30" velocity="30" />

</joint>

<link name="left_ring_finger_tracker_link" />

<joint name="left_ring_finger_tracker" type="fixed">
<origin xyz="-0.015750000000004177 0.0011925164027855653 -5.030206959210225e-15" rpy="1.5707963267948981 7.665868401314818e-16 -3.1415926535897856" />
<parent link="left_ring_finger_dip_2_link" />
<child link="left_ring_finger_tracker_link" />
</joint>

</robot>
